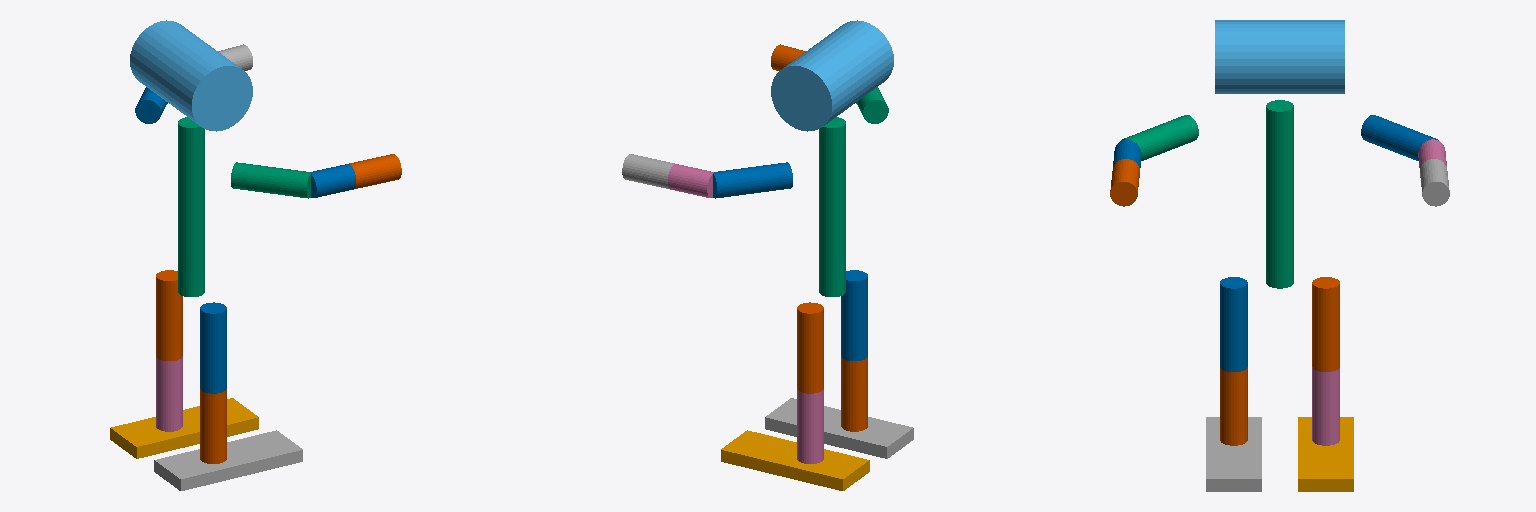
--- Facts derived from the render (not from the file) ---
The picture shows the robot from 3 angles, left to right: view 1: azimuth 30°, elevation 25°; view 2: azimuth 150°, elevation 25°; view 3: azimuth 270°, elevation 25°; orthographic projection.
Robot: NaoH25V32 — 77 links, 76 joints (26 revolute, 16 continuous, 34 fixed); root link base_link; default pose: joints at zero except 4 at the middle of their limits (LShoulderRoll = 0.829, LElbowRoll = -0.7854, RShoulderRoll = -0.829, RElbowRoll = 0.7854).
Links seen in each view (by area): view 1: Head, torso, r_ankle, l_ankle, RThigh, LThigh, RBicep, LTibia, RTibia, r_wrist, RForeArm, LBicep (+1 smaller); view 2: Head, torso, l_ankle, r_ankle, LThigh, RThigh, LBicep, RTibia, LTibia, l_wrist, LForeArm, RBicep (+1 smaller); view 3: Head, torso, l_ankle, r_ankle, LThigh, RThigh, LTibia, RTibia, LBicep, RBicep, l_wrist, r_wrist (+2 smaller).
Boxes of the visible links, <box> form: Head: <box>130,20,252,131</box>; torso: <box>178,117,204,296</box>; r_ankle: <box>154,430,302,490</box>; l_ankle: <box>110,398,258,458</box>; RThigh: <box>200,302,226,393</box>; LThigh: <box>156,270,182,360</box>; RBicep: <box>231,162,310,198</box>; LTibia: <box>156,356,182,431</box>; RTibia: <box>200,389,226,463</box>; r_wrist: <box>349,154,401,188</box>; RForeArm: <box>310,164,355,197</box>; LBicep: <box>135,87,167,123</box>; Head: <box>771,20,893,131</box>; torso: <box>819,117,845,296</box>; l_ankle: <box>721,430,869,490</box>; r_ankle: <box>765,398,913,458</box>; LThigh: <box>797,302,823,393</box>; RThigh: <box>841,270,867,360</box>; LBicep: <box>713,162,792,198</box>; RTibia: <box>841,356,867,431</box>; LTibia: <box>797,389,823,463</box>; l_wrist: <box>622,154,674,188</box>; LForeArm: <box>668,164,713,197</box>; RBicep: <box>856,87,888,123</box>; Head: <box>1215,20,1344,93</box>; torso: <box>1266,100,1293,288</box>; l_ankle: <box>1298,417,1353,491</box>; r_ankle: <box>1206,417,1261,491</box>; LThigh: <box>1312,277,1339,371</box>; RThigh: <box>1220,277,1247,371</box>; LTibia: <box>1312,367,1339,445</box>; RTibia: <box>1220,367,1247,445</box>; LBicep: <box>1361,115,1438,160</box>; RBicep: <box>1121,115,1198,160</box>; l_wrist: <box>1420,159,1449,206</box>; r_wrist: <box>1110,159,1139,206</box>.
Size in the robot's own frame: 0.2299 by 0.3682 by 0.5124 metres.
Geometry: primitives only (box / cylinder / sphere), no mesh files.

The robot description file, URDF, robot "NaoH25V32":
<?xml version="1.0" ?>
<!-- =================================================================================== -->
<!-- |    This document was autogenerated by xacro from nao_robot.xacro                | -->
<!-- |    EDITING THIS FILE BY HAND IS NOT RECOMMENDED                                 | -->
<!-- =================================================================================== -->
<!--******************************************************************
 ****** File automatically generated by generate_urdf.py script ******
 *********************************************************************-->
<robot name="NaoH25V32" xmlns:xacro="http://www.ros.org/wiki/xacro">
  <joint name="HeadYaw" type="revolute">
    <parent link="torso"/>
    <child link="Neck"/>
    <origin rpy="0 0 0" xyz="0 0 0.1265"/>
    <axis xyz="0 0 1.0"/>
    <limit effort="1.547" lower="-2.08567" upper="2.08567" velocity="8.26797"/>
  </joint>
  <link name="Neck">
    <inertial>
      <mass value="0.05959"/>
      <inertia ixx="2.27831e-05" ixy="0" ixz="-2.84825e-08" iyy="2.37937e-05" iyz="-1.0416e-07" izz="5.49457e-06"/>
      <origin rpy="0 0 0" xyz="-3e-05 0 -0.02573"/>
    </inertial>
  </link>
  <joint name="HeadPitch" type="revolute">
    <parent link="Neck"/>
    <child link="Head"/>
    <origin rpy="0 0 0" xyz="0 0 0"/>
    <axis xyz="0 1.0 0"/>
    <limit effort="1.532" lower="-0.671952" upper="0.514872" velocity="7.19407"/>
  </joint>
  <link name="Head">
    <inertial>
      <mass value="0.47672"/>
      <inertia ixx="0.0036122" ixy="1.42859e-05" ixz="0.000289597" iyy="0.00342929" iyz="-2.22459e-05" izz="0.00156014"/>
      <origin rpy="0 0 0" xyz="0.00383 0 0.05156"/>
    </inertial>
    <visual>
      <geometry>
        <cylinder length="0.14" radius="0.04"/>
      </geometry>
      <origin rpy="1.57079632679 0 0" xyz="0 0 0.058"/>
      <material name="LightGrey"/>
    </visual>
    <collision>
      <geometry>
        <cylinder length="0.14" radius="0.04"/>
      </geometry>
      <origin rpy="1.57079632679 0 0" xyz="0 0 0.058"/>
    </collision>
  </link>
  <joint name="gaze_joint" type="fixed">
    <parent link="Head"/>
    <child link="gaze"/>
    <origin rpy="0 0 0" xyz="0.05871 0 0.06364"/>
  </joint>
  <link name="gaze"/>
  <joint name="LHipYawPitch" type="revolute">
    <parent link="torso"/>
    <child link="LPelvis"/>
    <origin rpy="0 0 0" xyz="0 0.05 -0.085"/>
    <axis xyz="0 0.707106 -0.707106"/>
    <limit effort="3.348" lower="-1.14529" upper="0.740718" velocity="4.16174"/>
  </joint>
  <link name="LPelvis">
    <inertial>
      <mass value="0.07244"/>
      <inertia ixx="2.74339e-05" ixy="1.27703e-06" ixz="-1.83038e-06" iyy="4.99292e-05" iyz="4.57891e-06" izz="5.3498e-05"/>
      <origin rpy="0 0 0" xyz="-0.00717 -0.01187 0.02705"/>
    </inertial>
  </link>
  <joint name="LHipRoll" type="revolute">
    <parent link="LPelvis"/>
    <child link="LHip"/>
    <origin rpy="0 0 0" xyz="0 0 0"/>
    <axis xyz="1.0 0 0"/>
    <limit effort="3.348" lower="-0.379435" upper="0.79046" velocity="4.16174"/>
  </joint>
  <link name="LHip">
    <inertial>
      <mass value="0.1353"/>
      <inertia ixx="2.4849e-05" ixy="-5.97198e-07" ixz="5.28803e-06" iyy="6.16256e-05" iyz="-1.85886e-07" izz="0.000255291"/>
      <origin rpy="0 0 0" xyz="-0.01649 0.00029 -0.00475"/>
    </inertial>
  </link>
  <joint name="LHipPitch" type="revolute">
    <parent link="LHip"/>
    <child link="LThigh"/>
    <origin rpy="0 0 0" xyz="0 0 0"/>
    <axis xyz="0 1.0 0"/>
    <limit effort="3.023" lower="-1.53589" upper="0.48398" velocity="6.40239"/>
  </joint>
  <link name="LThigh">
    <inertial>
      <mass value="0.39798"/>
      <inertia ixx="0.000509482" ixy="1.48043e-06" ixz="5.4425e-05" iyy="0.000469814" iyz="-1.13419e-05" izz="0.000302638"/>
      <origin rpy="0 0 0" xyz="0.00131 0.00201 -0.05386"/>
    </inertial>
    <visual>
      <geometry>
        <cylinder length="0.1" radius="0.015"/>
      </geometry>
      <origin rpy="0 0 0" xyz="0 0 -0.05"/>
      <material name="LightGrey"/>
    </visual>
    <collision>
      <geometry>
        <cylinder length="0.1" radius="0.015"/>
      </geometry>
      <origin rpy="0 0 0" xyz="0 0 -0.05"/>
    </collision>
  </link>
  <joint name="LKneePitch" type="revolute">
    <parent link="LThigh"/>
    <child link="LTibia"/>
    <origin rpy="0 0 0" xyz="0 0 -0.1"/>
    <axis xyz="0 1.0 0"/>
    <limit effort="3.023" lower="-0.0923279" upper="2.11255" velocity="6.40239"/>
  </joint>
  <link name="LTibia">
    <inertial>
      <mass value="0.29714"/>
      <inertia ixx="0.000468213" ixy="3.24443e-06" ixz="-2.82799e-05" iyy="0.000411872" iyz="5.21684e-06" izz="0.000185588"/>
      <origin rpy="0 0 0" xyz="0.00471 0.0021 -0.04891"/>
    </inertial>
    <visual>
      <geometry>
        <cylinder length="0.1" radius="0.015"/>
      </geometry>
      <origin rpy="0 0 0" xyz="0 0 -0.05"/>
      <material name="LightGrey"/>
    </visual>
    <collision>
      <geometry>
        <cylinder length="0.1" radius="0.015"/>
      </geometry>
      <origin rpy="0 0 0" xyz="0 0 -0.05"/>
    </collision>
  </link>
  <joint name="LAnklePitch" type="revolute">
    <parent link="LTibia"/>
    <child link="LAnklePitch"/>
    <origin rpy="0 0 0" xyz="0 0 -0.1029"/>
    <axis xyz="0 1.0 0"/>
    <limit effort="3.023" lower="-1.18944" upper="0.922581" velocity="6.40239"/>
  </joint>
  <link name="LAnklePitch">
    <inertial>
      <mass value="0.13892"/>
      <inertia ixx="3.31602e-05" ixy="5.81459e-09" ixz="3.47177e-06" iyy="6.6181e-05" iyz="2.54907e-07" izz="5.32289e-05"/>
      <origin rpy="0 0 0" xyz="0.00142 0.00028 0.00638"/>
    </inertial>
  </link>
  <joint name="LAnkleRoll" type="revolute">
    <parent link="LAnklePitch"/>
    <child link="l_ankle"/>
    <origin rpy="0 0 0" xyz="0 0 0"/>
    <axis xyz="1.0 0 0"/>
    <limit effort="3.348" lower="-0.397761" upper="0.768992" velocity="4.16174"/>
  </joint>
  <link name="l_ankle">
    <inertial>
      <mass value="0.16304"/>
      <inertia ixx="9.80337e-05" ixy="7.46444e-06" ixz="7.11645e-06" iyy="0.000374354" iyz="1.43763e-06" izz="0.000423717"/>
      <origin rpy="0 0 0" xyz="0.02489 0.0033 -0.03208"/>
    </inertial>
    <visual>
      <geometry>
        <box size="0.16 0.06 0.015"/>
      </geometry>
      <origin rpy="0 0 0" xyz="0.02 0 0.0075"/>
      <material name="LightGrey"/>
    </visual>
    <collision>
      <geometry>
        <box size="0.16 0.06 0.015"/>
      </geometry>
      <origin rpy="0 0 0" xyz="0.02 0 0.0075"/>
    </collision>
  </link>
  <joint name="LLeg_effector_fixedjoint" type="fixed">
    <parent link="l_ankle"/>
    <child link="l_sole"/>
    <origin rpy="0 0 0" xyz="0 0 -0.04511"/>
    <axis xyz="0 0 0"/>
  </joint>
  <link name="l_sole"/>
  <joint name="RHipYawPitch" type="revolute">
    <parent link="torso"/>
    <child link="RPelvis"/>
    <origin rpy="0 0 0" xyz="0 -0.05 -0.085"/>
    <axis xyz="0 0.707106 0.707106"/>
    <limit effort="3.348" lower="-1.14529" upper="0.740718" velocity="4.16174"/>
    <mimic joint="LHipYawPitch" multiplier="1.0" offset="0"/>
  </joint>
  <link name="RPelvis">
    <inertial>
      <mass value="0.07244"/>
      <inertia ixx="2.74339e-05" ixy="-1.27703e-06" ixz="-1.83038e-06" iyy="4.99292e-05" iyz="-4.57891e-06" izz="5.3498e-05"/>
      <origin rpy="0 0 0" xyz="-0.00717 0.01187 0.02705"/>
    </inertial>
  </link>
  <joint name="RHipRoll" type="revolute">
    <parent link="RPelvis"/>
    <child link="RHip"/>
    <origin rpy="0 0 0" xyz="0 0 0"/>
    <axis xyz="1.0 0 0"/>
    <limit effort="3.348" lower="-0.79046" upper="0.379435" velocity="4.16174"/>
  </joint>
  <link name="RHip">
    <inertial>
      <mass value="0.1353"/>
      <inertia ixx="2.4849e-05" ixy="5.97198e-07" ixz="5.28803e-06" iyy="6.16256e-05" iyz="1.85886e-07" izz="0.000255291"/>
      <origin rpy="0 0 0" xyz="-0.01649 -0.00029 -0.00475"/>
    </inertial>
  </link>
  <joint name="RHipPitch" type="revolute">
    <parent link="RHip"/>
    <child link="RThigh"/>
    <origin rpy="0 0 0" xyz="0 0 0"/>
    <axis xyz="0 1.0 0"/>
    <limit effort="3.0226" lower="-1.53589" upper="0.48398" velocity="6.40239"/>
  </joint>
  <link name="RThigh">
    <inertial>
      <mass value="0.39798"/>
      <inertia ixx="0.000509482" ixy="-1.48043e-06" ixz="5.4425e-05" iyy="0.000469814" iyz="1.13419e-05" izz="0.000302638"/>
      <origin rpy="0 0 0" xyz="0.00131 -0.00201 -0.05386"/>
    </inertial>
    <visual>
      <geometry>
        <cylinder length="0.1" radius="0.015"/>
      </geometry>
      <origin rpy="0 0 0" xyz="0 0 -0.05"/>
      <material name="LightGrey"/>
    </visual>
    <collision>
      <geometry>
        <cylinder length="0.1" radius="0.015"/>
      </geometry>
      <origin rpy="0 0 0" xyz="0 0 -0.05"/>
    </collision>
  </link>
  <joint name="RKneePitch" type="revolute">
    <parent link="RThigh"/>
    <child link="RTibia"/>
    <origin rpy="0 0 0" xyz="0 0 -0.1"/>
    <axis xyz="0 1.0 0"/>
    <limit effort="3.0226" lower="-0.0923279" upper="2.11255" velocity="6.40239"/>
  </joint>
  <link name="RTibia">
    <inertial>
      <mass value="0.29714"/>
      <inertia ixx="0.000468213" ixy="-3.24443e-06" ixz="-2.82799e-05" iyy="0.000411872" iyz="-5.21684e-06" izz="0.000185588"/>
      <origin rpy="0 0 0" xyz="0.00471 -0.0021 -0.04891"/>
    </inertial>
    <visual>
      <geometry>
        <cylinder length="0.1" radius="0.015"/>
      </geometry>
      <origin rpy="0 0 0" xyz="0 0 -0.05"/>
      <material name="LightGrey"/>
    </visual>
    <collision>
      <geometry>
        <cylinder length="0.1" radius="0.015"/>
      </geometry>
      <origin rpy="0 0 0" xyz="0 0 -0.05"/>
    </collision>
  </link>
  <joint name="RAnklePitch" type="revolute">
    <parent link="RTibia"/>
    <child link="RAnklePitch"/>
    <origin rpy="0 0 0" xyz="0 0 -0.1029"/>
    <axis xyz="0 1.0 0"/>
    <limit effort="3.0226" lower="-1.1863" upper="0.932006" velocity="6.40239"/>
  </joint>
  <link name="RAnklePitch">
    <inertial>
      <mass value="0.13892"/>
      <inertia ixx="3.31602e-05" ixy="-5.81459e-09" ixz="3.47177e-06" iyy="6.6181e-05" iyz="-2.54907e-07" izz="5.32289e-05"/>
      <origin rpy="0 0 0" xyz="0.00142 -0.00028 0.00638"/>
    </inertial>
  </link>
  <joint name="RAnkleRoll" type="revolute">
    <parent link="RAnklePitch"/>
    <child link="r_ankle"/>
    <origin rpy="0 0 0" xyz="0 0 0"/>
    <axis xyz="1.0 0 0"/>
    <limit effort="3.348" lower="-0.768992" upper="0.397761" velocity="4.16174"/>
  </joint>
  <link name="r_ankle">
    <inertial>
      <mass value="0.16304"/>
      <inertia ixx="9.80337e-05" ixy="-7.46444e-06" ixz="-0.000116453" iyy="0.000374354" iyz="-1.43763e-06" izz="0.000423717"/>
      <origin rpy="0 0 0" xyz="0.02489 -0.0033 -0.03208"/>
    </inertial>
    <visual>
      <geometry>
        <box size="0.16 0.06 0.015"/>
      </geometry>
      <origin rpy="0 0 0" xyz="0.02 0 0.0075"/>
      <material name="LightGrey"/>
    </visual>
    <collision>
      <geometry>
        <box size="0.16 0.06 0.015"/>
      </geometry>
      <origin rpy="0 0 0" xyz="0.02 0 0.0075"/>
    </collision>
  </link>
  <joint name="RLeg_effector_fixedjoint" type="fixed">
    <parent link="r_ankle"/>
    <child link="r_sole"/>
    <origin rpy="0 0 0" xyz="0 0 -0.04511"/>
    <axis xyz="0 0 0"/>
  </joint>
  <link name="r_sole"/>
  <link name="base_link"/>
  <joint name="base_link_fixedjoint" type="fixed">
    <parent link="base_link"/>
    <child link="torso"/>
    <origin rpy="0 0 0" xyz="0 0 0"/>
    <axis xyz="0 0 0"/>
  </joint>
  <link name="torso">
    <inertial>
      <mass value="1.02628"/>
      <inertia ixx="0.00304582" ixy="1.42859e-05" ixz="-1.27716e-05" iyy="0.00284625" iyz="-2.22459e-05" izz="0.00154349"/>
      <origin rpy="0 0 0" xyz="-0.0048 0 0.04227"/>
    </inertial>
    <visual>
      <geometry>
        <cylinder length="0.2115" radius="0.015"/>
      </geometry>
      <origin rpy="0 0 0" xyz="0 0 0.02075"/>
      <material name="LightGrey"/>
    </visual>
    <collision>
      <geometry>
        <cylinder length="0.2115" radius="0.015"/>
      </geometry>
      <origin rpy="0 0 0" xyz="0 0 0.02075"/>
    </collision>
  </link>
  <joint name="LShoulderPitch" type="revolute">
    <parent link="torso"/>
    <child link="LShoulder"/>
    <origin rpy="0 0 0" xyz="0 0.098 0.1"/>
    <axis xyz="0 1.0 0"/>
    <limit effort="1.329" lower="-2.08567" upper="2.08567" velocity="8.26797"/>
  </joint>
  <link name="LShoulder">
    <inertial>
      <mass value="0.06984"/>
      <inertia ixx="2.71212e-05" ixy="1.092e-06" ixz="-6.48989e-09" iyy="1.38254e-05" iyz="-3.76769e-07" izz="2.90286e-05"/>
      <origin rpy="0 0 0" xyz="-0.00178 -0.02507 0.00019"/>
    </inertial>
  </link>
  <joint name="LShoulderRoll" type="revolute">
    <parent link="LShoulder"/>
    <child link="LBicep"/>
    <origin rpy="0 0 0" xyz="0 0 0"/>
    <axis xyz="0 0 1.0"/>
    <limit effort="1.7835" lower="0.00872665" upper="1.64934" velocity="7.19407"/>
  </joint>
  <link name="LBicep">
    <inertial>
      <mass value="0.12166"/>
      <inertia ixx="5.58921e-05" ixy="7.81779e-06" ixz="7.53876e-06" iyy="0.000148637" iyz="-1.97852e-06" izz="0.000130405"/>
      <origin rpy="0 0 0" xyz="0.02067 0.00388 0.00362"/>
    </inertial>
    <visual>
      <geometry>
        <cylinder length="0.09" radius="0.015"/>
      </geometry>
      <origin rpy="1.57079632679 0 1.57079632679" xyz="0.045 0 0"/>
      <material name="LightGrey"/>
    </visual>
    <collision>
      <geometry>
        <cylinder length="0.09" radius="0.015"/>
      </geometry>
      <origin rpy="1.57079632679 0 1.57079632679" xyz="0.045 0 0"/>
    </collision>
  </link>
  <joint name="LElbowYaw" type="revolute">
    <parent link="LBicep"/>
    <child link="LElbow"/>
    <origin rpy="0 0 0" xyz="0.09 0 0"/>
    <axis xyz="1.0 0 0"/>
    <limit effort="1.547" lower="-2.08567" upper="2.08567" velocity="8.26797"/>
  </joint>
  <link name="LElbow">
    <inertial>
      <mass value="0.05959"/>
      <inertia ixx="5.49223e-06" ixy="-7.08749e-09" ixz="3.7436e-07" iyy="2.2795e-05" iyz="5.70918e-09" izz="2.37796e-05"/>
      <origin rpy="0 0 0" xyz="-0.02573 -1e-05 -0.0002"/>
    </inertial>
  </link>
  <joint name="LElbowRoll" type="revolute">
    <parent link="LElbow"/>
    <child link="LForeArm"/>
    <origin rpy="0 0 0" xyz="0 0 0"/>
    <axis xyz="0 0 1.0"/>
    <limit effort="1.532" lower="-1.56207" upper="-0.00872665" velocity="7.19407"/>
  </joint>
  <link name="LForeArm">
    <inertial>
      <mass value="0.0377"/>
      <inertia ixx="1.2127e-05" ixy="9.08795e-07" ixz="3.9219e-07" iyy="1.61446e-05" iyz="7.966e-08" izz="1.52257e-05"/>
      <origin rpy="0 0 0" xyz="0.0194 0.00304 0.0025"/>
    </inertial>
    <visual>
      <geometry>
        <cylinder length="0.05065" radius="0.015"/>
      </geometry>
      <origin rpy="1.57079632679 0 1.57079632679" xyz="0.025325 0 0"/>
      <material name="LightGrey"/>
    </visual>
    <collision>
      <geometry>
        <cylinder length="0.05065" radius="0.015"/>
      </geometry>
      <origin rpy="1.57079632679 0 1.57079632679" xyz="0.025325 0 0"/>
    </collision>
  </link>
  <joint name="LWristYaw" type="revolute">
    <parent link="LForeArm"/>
    <child link="l_wrist"/>
    <origin rpy="0 0 0" xyz="0.05055 0 0"/>
    <axis xyz="1.0 0 0"/>
    <limit effort="0.3891" lower="-1.82387" upper="1.82387" velocity="5.03144"/>
  </joint>
  <link name="l_wrist">
    <inertial>
      <mass value="0.14314"/>
      <inertia ixx="5.48391e-05" ixy="4.21084e-06" ixz="-1.25566e-06" iyy="0.000120895" iyz="7.74367e-07" izz="0.00011473"/>
      <origin rpy="0 0 0" xyz="0.03241 0.00268 -0.00272"/>
    </inertial>
    <visual>
      <geometry>
        <cylinder length="0.058" radius="0.015"/>
      </geometry>
      <origin rpy="1.57079632679 0 1.57079632679" xyz="0.029 0 0"/>
      <material name="LightGrey"/>
    </visual>
    <collision>
      <geometry>
        <cylinder length="0.058" radius="0.015"/>
      </geometry>
      <origin rpy="1.57079632679 0 1.57079632679" xyz="0.029 0 0"/>
    </collision>
  </link>
  <joint name="LHand" type="revolute">
    <parent link="l_wrist"/>
    <child link="l_gripper"/>
    <origin rpy="0 0 0" xyz="0.058 0 -0.0159"/>
    <axis xyz="1.0 0 0"/>
    <limit effort="0.292" lower="0" upper="1.0" velocity="3.71"/>
  </joint>
  <link name="l_gripper">
    <inertial>
      <mass value="2e-06"/>
      <inertia ixx="1.1e-09" ixy="0" ixz="0" iyy="1.1e-09" iyz="0" izz="1.1e-09"/>
    </inertial>
  </link>
  <joint name="RShoulderPitch" type="revolute">
    <parent link="torso"/>
    <child link="RShoulder"/>
    <origin rpy="0 0 0" xyz="0 -0.098 0.1"/>
    <axis xyz="0 1.0 0"/>
    <limit effort="1.329" lower="-2.08567" upper="2.08567" velocity="8.26797"/>
  </joint>
  <link name="RShoulder">
    <inertial>
      <mass value="0.06984"/>
      <inertia ixx="2.71212e-05" ixy="-1.092e-06" ixz="-6.48989e-09" iyy="1.38254e-05" iyz="3.76769e-07" izz="2.90286e-05"/>
      <origin rpy="0 0 0" xyz="-0.00178 0.02507 0.00019"/>
    </inertial>
  </link>
  <joint name="RShoulderRoll" type="revolute">
    <parent link="RShoulder"/>
    <child link="RBicep"/>
    <origin rpy="0 0 0" xyz="0 0 0"/>
    <axis xyz="0 0 1.0"/>
    <limit effort="1.783" lower="-1.64934" upper="-0.00872665" velocity="7.19407"/>
  </joint>
  <link name="RBicep">
    <inertial>
      <mass value="0.12166"/>
      <inertia ixx="5.58921e-05" ixy="-7.81779e-06" ixz="-6.54177e-06" iyy="0.000148637" iyz="1.97852e-06" izz="0.000130405"/>
      <origin rpy="0 0 0" xyz="0.02067 -0.00388 0.00362"/>
    </inertial>
    <visual>
      <geometry>
        <cylinder length="0.09" radius="0.015"/>
      </geometry>
      <origin rpy="1.57079632679 0 1.57079632679" xyz="0.045 0 0"/>
      <material name="LightGrey"/>
    </visual>
    <collision>
      <geometry>
        <cylinder length="0.09" radius="0.015"/>
      </geometry>
      <origin rpy="1.57079632679 0 1.57079632679" xyz="0.045 0 0"/>
    </collision>
  </link>
  <joint name="RElbowYaw" type="revolute">
    <parent link="RBicep"/>
    <child link="RElbow"/>
    <origin rpy="0 0 0" xyz="0.09 0 0"/>
    <axis xyz="1.0 0 0"/>
    <limit effort="1.547" lower="-2.08567" upper="2.08567" velocity="8.26797"/>
  </joint>
  <link name="RElbow">
    <inertial>
      <mass value="0.05959"/>
      <inertia ixx="5.49223e-06" ixy="7.08749e-09" ixz="3.7436e-07" iyy="2.2795e-05" iyz="-5.70918e-09" izz="2.37796e-05"/>
      <origin rpy="0 0 0" xyz="-0.02573 1e-05 -0.0002"/>
    </inertial>
  </link>
  <joint name="RElbowRoll" type="revolute">
    <parent link="RElbow"/>
    <child link="RForeArm"/>
    <origin rpy="0 0 0" xyz="0 0 0"/>
    <axis xyz="0 0 1.0"/>
    <limit effort="1.532" lower="0.00872665" upper="1.56207" velocity="7.19407"/>
  </joint>
  <link name="RForeArm">
    <inertial>
      <mass value="0.0377"/>
      <inertia ixx="1.2127e-05" ixy="-9.08795e-07" ixz="3.9219e-07" iyy="1.61446e-05" iyz="-7.966e-08" izz="1.52257e-05"/>
      <origin rpy="0 0 0" xyz="0.0194 -0.00304 0.0025"/>
    </inertial>
    <visual>
      <geometry>
        <cylinder length="0.05065" radius="0.015"/>
      </geometry>
      <origin rpy="1.57079632679 0 1.57079632679" xyz="0.025325 0 0"/>
      <material name="LightGrey"/>
    </visual>
    <collision>
      <geometry>
        <cylinder length="0.05065" radius="0.015"/>
      </geometry>
      <origin rpy="1.57079632679 0 1.57079632679" xyz="0.025325 0 0"/>
    </collision>
  </link>
  <joint name="RWristYaw" type="revolute">
    <parent link="RForeArm"/>
    <child link="r_wrist"/>
    <origin rpy="0 0 0" xyz="0.05055 0 0"/>
    <axis xyz="1.0 0 0"/>
    <limit effort="0.3891" lower="-1.82387" upper="1.82387" velocity="5.03144"/>
  </joint>
  <link name="r_wrist">
    <inertial>
      <mass value="0.14314"/>
      <inertia ixx="5.48391e-05" ixy="-4.21084e-06" ixz="-1.25566e-06" iyy="0.000120895" iyz="-7.74367e-07" izz="0.00011473"/>
      <origin rpy="0 0 0" xyz="0.03241 -0.00268 -0.00272"/>
    </inertial>
    <visual>
      <geometry>
        <cylinder length="0.058" radius="0.015"/>
      </geometry>
      <origin rpy="1.57079632679 0 1.57079632679" xyz="0.029 0 0"/>
      <material name="LightGrey"/>
    </visual>
    <collision>
      <geometry>
        <cylinder length="0.058" radius="0.015"/>
      </geometry>
      <origin rpy="1.57079632679 0 1.57079632679" xyz="0.029 0 0"/>
    </collision>
  </link>
  <joint name="RHand" type="revolute">
    <parent link="r_wrist"/>
    <child link="r_gripper"/>
    <origin rpy="0 0 0" xyz="0.058 0 -0.0159"/>
    <axis xyz="1.0 0 0"/>
    <limit effort="0.292" lower="0" upper="1.0" velocity="3.71"/>
  </joint>
  <link name="r_gripper">
    <inertial>
      <mass value="2e-06"/>
      <inertia ixx="1.1e-09" ixy="0" ixz="0" iyy="1.1e-09" iyz="0" izz="1.1e-09"/>
    </inertial>
  </link>
  <link name="LFootBumperRight_frame"/>
  <joint name="LFoot/Bumper/Right_sensor_fixedjoint" type="fixed">
    <parent link="l_ankle"/>
    <child link="LFootBumperRight_frame"/>
    <origin rpy="0 0 0" xyz="0.0876 -0.014 -0.0353"/>
    <axis xyz="0 0 0"/>
  </joint>
  <link name="RFsrRL_frame">
    <collision>
      <geometry>
        <box size="0.01 0.01 0.005"/>
      </geometry>
      <origin rpy="0 0 0" xyz="0 0 0"/>
    </collision>
    <inertial>
      <mass value="2e-06"/>
      <inertia ixx="1.1e-09" ixy="0" ixz="0" iyy="1.1e-09" iyz="0" izz="1.1e-09"/>
    </inertial>
  </link>
  <joint name="RFoot/FSR/RearLeft_sensor_fixedjoint" type="fixed">
    <parent link="r_ankle"/>
    <child link="RFsrRL_frame"/>
    <origin rpy="0 0 0" xyz="-0.03025 0.0191 -0.04511"/>
    <axis xyz="0 0 0"/>
  </joint>
  <link name="CameraBottom_optical_frame"/>
  <joint name="CameraBottom_optical_frame_fixedjoint" type="fixed">
    <parent link="CameraBottom_frame"/>
    <child link="CameraBottom_optical_frame"/>
    <origin rpy="-1.57079632679 0 -1.57079632679" xyz="0 0 0"/>
  </joint>
  <link name="RFsrRR_frame">
    <collision>
      <geometry>
        <box size="0.01 0.01 0.005"/>
      </geometry>
      <origin rpy="0 0 0" xyz="0 0 0"/>
    </collision>
    <inertial>
      <mass value="2e-06"/>
      <inertia ixx="1.1e-09" ixy="0" ixz="0" iyy="1.1e-09" iyz="0" izz="1.1e-09"/>
    </inertial>
  </link>
  <joint name="RFoot/FSR/RearRight_sensor_fixedjoint" type="fixed">
    <parent link="r_ankle"/>
    <child link="RFsrRR_frame"/>
    <origin rpy="0 0 0" xyz="-0.02965 -0.0299 -0.04511"/>
    <axis xyz="0 0 0"/>
  </joint>
  <link name="LFsrFR_frame">
    <collision>
      <geometry>
        <box size="0.01 0.01 0.005"/>
      </geometry>
      <origin rpy="0 0 0" xyz="0 0 0"/>
    </collision>
    <inertial>
      <mass value="2e-06"/>
      <inertia ixx="1.1e-09" ixy="0" ixz="0" iyy="1.1e-09" iyz="0" izz="1.1e-09"/>
    </inertial>
  </link>
  <joint name="LFoot/FSR/FrontRight_sensor_fixedjoint" type="fixed">
    <parent link="l_ankle"/>
    <child link="LFsrFR_frame"/>
    <origin rpy="0 0 0" xyz="0.07025 -0.0231 -0.04511"/>
    <axis xyz="0 0 0"/>
  </joint>
  <link name="RFootBumperRight_frame"/>
  <joint name="RFoot/Bumper/Right_sensor_fixedjoint" type="fixed">
    <parent link="r_ankle"/>
    <child link="RFootBumperRight_frame"/>
    <origin rpy="0 0 0" xyz="0.0876 -0.019 -0.0353"/>
    <axis xyz="0 0 0"/>
  </joint>
  <link name="RFsrFR_frame">
    <collision>
      <geometry>
        <box size="0.01 0.01 0.005"/>
      </geometry>
      <origin rpy="0 0 0" xyz="0 0 0"/>
    </collision>
    <inertial>
      <mass value="2e-06"/>
      <inertia ixx="1.1e-09" ixy="0" ixz="0" iyy="1.1e-09" iyz="0" izz="1.1e-09"/>
    </inertial>
  </link>
  <joint name="RFoot/FSR/FrontRight_sensor_fixedjoint" type="fixed">
    <parent link="r_ankle"/>
    <child link="RFsrFR_frame"/>
    <origin rpy="0 0 0" xyz="0.07025 -0.0299 -0.04511"/>
    <axis xyz="0 0 0"/>
  </joint>
  <link name="MicroSurroundLeft_frame"/>
  <joint name="MicroLeft_sensor_fixedjoint" type="fixed">
    <parent link="Head"/>
    <child link="MicroSurroundLeft_frame"/>
    <origin rpy="0 0 0" xyz="-0.0195 0.0606 0.0331"/>
    <axis xyz="0 0 0"/>
  </joint>
  <link name="LFsrRR_frame">
    <collision>
      <geometry>
        <box size="0.01 0.01 0.005"/>
      </geometry>
      <origin rpy="0 0 0" xyz="0 0 0"/>
    </collision>
    <inertial>
      <mass value="2e-06"/>
      <inertia ixx="1.1e-09" ixy="0" ixz="0" iyy="1.1e-09" iyz="0" izz="1.1e-09"/>
    </inertial>
  </link>
  <joint name="LFoot/FSR/RearRight_sensor_fixedjoint" type="fixed">
    <parent link="l_ankle"/>
    <child link="LFsrRR_frame"/>
    <origin rpy="0 0 0" xyz="-0.02965 -0.0191 -0.04511"/>
    <axis xyz="0 0 0"/>
  </joint>
  <link name="MicroSurroundRight_frame"/>
  <joint name="MicroRight_sensor_fixedjoint" type="fixed">
    <parent link="Head"/>
    <child link="MicroSurroundRight_frame"/>
    <origin rpy="0 0 0" xyz="-0.0195 -0.0606 0.0331"/>
    <axis xyz="0 0 0"/>
  </joint>
  <link name="LSonar_frame"/>
  <joint name="Sonar/Left_sensor_fixedjoint" type="fixed">
    <parent link="torso"/>
    <child link="LSonar_frame"/>
    <origin rpy="-0.00478508 0.0436497 0.392441" xyz="0.00558253 0.0192068 0.0623853"/>
    <axis xyz="0 0 0"/>
  </joint>
  <link name="ImuTorsoAccelerometer_frame"/>
  <joint name="Accelerometer_sensor_fixedjoint" type="fixed">
    <parent link="torso"/>
    <child link="ImuTorsoAccelerometer_frame"/>
    <origin rpy="0 0 0" xyz="-0.008 0.00606 0.027"/>
    <axis xyz="0 0 0"/>
  </joint>
  <link name="HeadTouchFront_frame"/>
  <joint name="Head/Touch/Front_sensor_fixedjoint" type="fixed">
    <parent link="Head"/>
    <child link="HeadTouchFront_frame"/>
    <origin rpy="0 -1.1861 0" xyz="0.0312 0 0.1014"/>
    <axis xyz="0 0 0"/>
  </joint>
  <link name="RFootBumperLeft_frame"/>
  <joint name="RFoot/Bumper/Left_sensor_fixedjoint" type="fixed">
    <parent link="r_ankle"/>
    <child link="RFootBumperLeft_frame"/>
    <origin rpy="0 0 0" xyz="0.0876 0.014 -0.0353"/>
    <axis xyz="0 0 0"/>
  </joint>
  <link name="RSonar_frame"/>
  <joint name="Sonar/Right_sensor_fixedjoint" type="fixed">
    <parent link="torso"/>
    <child link="RSonar_frame"/>
    <origin rpy="0.00478508 0.0436497 -0.392441" xyz="0.00558253 -0.0192068 0.0623853"/>
    <axis xyz="0 0 0"/>
  </joint>
  <link name="RFsrFL_frame">
    <collision>
      <geometry>
        <box size="0.01 0.01 0.005"/>
      </geometry>
      <origin rpy="0 0 0" xyz="0 0 0"/>
    </collision>
    <inertial>
      <mass value="2e-06"/>
      <inertia ixx="1.1e-09" ixy="0" ixz="0" iyy="1.1e-09" iyz="0" izz="1.1e-09"/>
    </inertial>
  </link>
  <joint name="RFoot/FSR/FrontLeft_sensor_fixedjoint" type="fixed">
    <parent link="r_ankle"/>
    <child link="RFsrFL_frame"/>
    <origin rpy="0 0 0" xyz="0.07025 0.0231 -0.04511"/>
    <axis xyz="0 0 0"/>
  </joint>
  <link name="LFsrFL_frame">
    <collision>
      <geometry>
        <box size="0.01 0.01 0.005"/>
      </geometry>
      <origin rpy="0 0 0" xyz="0 0 0"/>
    </collision>
    <inertial>
      <mass value="2e-06"/>
      <inertia ixx="1.1e-09" ixy="0" ixz="0" iyy="1.1e-09" iyz="0" izz="1.1e-09"/>
    </inertial>
  </link>
  <joint name="LFoot/FSR/FrontLeft_sensor_fixedjoint" type="fixed">
    <parent link="l_ankle"/>
    <child link="LFsrFL_frame"/>
    <origin rpy="0 0 0" xyz="0.07025 0.0299 -0.04511"/>
    <axis xyz="0 0 0"/>
  </joint>
  <link name="LFsrRL_frame">
    <collision>
      <geometry>
        <box size="0.01 0.01 0.005"/>
      </geometry>
      <origin rpy="0 0 0" xyz="0 0 0"/>
    </collision>
    <inertial>
      <mass value="2e-06"/>
      <inertia ixx="1.1e-09" ixy="0" ixz="0" iyy="1.1e-09" iyz="0" izz="1.1e-09"/>
    </inertial>
  </link>
  <joint name="LFoot/FSR/RearLeft_sensor_fixedjoint" type="fixed">
    <parent link="l_ankle"/>
    <child link="LFsrRL_frame"/>
    <origin rpy="0 0 0" xyz="-0.03025 0.0299 -0.04511"/>
    <axis xyz="0 0 0"/>
  </joint>
  <link name="CameraBottom_frame"/>
  <joint name="CameraBottom_sensor_fixedjoint" type="fixed">
    <parent link="Head"/>
    <child link="CameraBottom_frame"/>
    <origin rpy="0 0.6981 0" xyz="0.0488 0 0.02381"/>
    <axis xyz="0 0 0"/>
  </joint>
  <link name="CameraTop_frame"/>
  <joint name="CameraTop_sensor_fixedjoint" type="fixed">
    <parent link="Head"/>
    <child link="CameraTop_frame"/>
    <origin rpy="0 0 0" xyz="0.0539 0 0.0679"/>
    <axis xyz="0 0 0"/>
  </joint>
  <link name="CameraTop_optical_frame"/>
  <joint name="CameraTop_optical_frame_fixedjoint" type="fixed">
    <parent link="CameraTop_frame"/>
    <child link="CameraTop_optical_frame"/>
    <origin rpy="-1.57079632679 0 -1.57079632679" xyz="0 0 0"/>
  </joint>
  <link name="LInfraRed_frame"/>
  <joint name="InfraredL_sensor_fixedjoint" type="fixed">
    <parent link="Head"/>
    <child link="LInfraRed_frame"/>
    <origin rpy="0 0 0" xyz="0.0441 0.0257 0.0466"/>
    <axis xyz="0 0 0"/>
  </joint>
  <link name="ImuTorsoGyrometer_frame"/>
  <joint name="Gyrometer_sensor_fixedjoint" type="fixed">
    <parent link="torso"/>
    <child link="ImuTorsoGyrometer_frame"/>
    <origin rpy="0 0 0" xyz="-0.008 0.006 0.029"/>
    <axis xyz="0 0 0"/>
  </joint>
  <link name="MicroFrontCenter_frame"/>
  <joint name="MicroFront_sensor_fixedjoint" type="fixed">
    <parent link="Head"/>
    <child link="MicroFrontCenter_frame"/>
    <origin rpy="0 0 0" xyz="0.041 0 0.091"/>
    <axis xyz="0 0 0"/>
  </joint>
  <link name="HeadTouchRear_frame"/>
  <joint name="Head/Touch/Rear_sensor_fixedjoint" type="fixed">
    <parent link="Head"/>
    <child link="HeadTouchRear_frame"/>
    <origin rpy="3.14159 -1.33319 -3.14159" xyz="-0.0257 0 0.1045"/>
    <axis xyz="0 0 0"/>
  </joint>
  <link name="HeadTouchMiddle_frame"/>
  <joint name="Head/Touch/Middle_sensor_fixedjoint" type="fixed">
    <parent link="Head"/>
    <child link="HeadTouchMiddle_frame"/>
    <origin rpy="3.14159 -1.57079 -3.14159" xyz="0.001 0 0.1099"/>
    <axis xyz="0 0 0"/>
  </joint>
  <link name="RInfraRed_frame"/>
  <joint name="InfraredR_sensor_fixedjoint" type="fixed">
    <parent link="Head"/>
    <child link="RInfraRed_frame"/>
    <origin rpy="0 0 0" xyz="0.0441 -0.0257 0.0466"/>
    <axis xyz="0 0 0"/>
  </joint>
  <link name="ChestButton_frame"/>
  <joint name="ChestBoard/Button_sensor_fixedjoint" type="fixed">
    <parent link="torso"/>
    <child link="ChestButton_frame"/>
    <origin rpy="0 0 0" xyz="0.049871 0.001588 0.055163"/>
    <axis xyz="0 0 0"/>
  </joint>
  <link name="LFootBumperLeft_frame"/>
  <joint name="LFoot/Bumper/Left_sensor_fixedjoint" type="fixed">
    <parent link="l_ankle"/>
    <child link="LFootBumperLeft_frame"/>
    <origin rpy="0 0 0" xyz="0.0876 0.019 -0.0353"/>
    <axis xyz="0 0 0"/>
  </joint>
  <link name="MicroRearCenter_frame"/>
  <joint name="MicroRear_sensor_fixedjoint" type="fixed">
    <parent link="Head"/>
    <child link="MicroRearCenter_frame"/>
    <origin rpy="0 0 0" xyz="-0.0577 0 0.0693"/>
    <axis xyz="0 0 0"/>
  </joint>
  <link name="RFinger23_link">
    <inertial>
      <mass value="2e-06"/>
      <inertia ixx="1.1e-09" ixy="0" ixz="0" iyy="1.1e-09" iyz="0" izz="1.1e-09"/>
    </inertial>
  </link>
  <joint name="RFinger23" type="continuous">
    <parent link="RFinger22_link"/>
    <child link="RFinger23_link"/>
    <origin rpy="0 0 -0.999899" xyz="0.01436 0 0"/>
    <axis xyz="0 0 1.0"/>
    <mimic joint="RHand" multiplier="0.999899" offset="0"/>
  </joint>
  <link name="RFinger13_link">
    <inertial>
      <mass value="2e-06"/>
      <inertia ixx="1.1e-09" ixy="0" ixz="0" iyy="1.1e-09" iyz="0" izz="1.1e-09"/>
    </inertial>
  </link>
  <joint name="RFinger13" type="continuous">
    <parent link="RFinger12_link"/>
    <child link="RFinger13_link"/>
    <origin rpy="0 0 -0.999899" xyz="0.01436 0 0"/>
    <axis xyz="0 0 1.0"/>
    <mimic joint="RHand" multiplier="0.999899" offset="0"/>
  </joint>
  <link name="RFinger12_link">
    <inertial>
      <mass value="2e-06"/>
      <inertia ixx="1.1e-09" ixy="0" ixz="0" iyy="1.1e-09" iyz="0" izz="1.1e-09"/>
    </inertial>
  </link>
  <joint name="RFinger12" type="continuous">
    <parent link="RFinger11_link"/>
    <child link="RFinger12_link"/>
    <origin rpy="0 0 -0.999899" xyz="0.01436 0 0"/>
    <axis xyz="0 0 1.0"/>
    <mimic joint="RHand" multiplier="0.999899" offset="0"/>
  </joint>
  <link name="LFinger21_link">
    <inertial>
      <mass value="2e-06"/>
      <inertia ixx="1.1e-09" ixy="0" ixz="0" iyy="1.1e-09" iyz="0" izz="1.1e-09"/>
    </inertial>
  </link>
  <joint name="LFinger21" type="continuous">
    <parent link="l_wrist"/>
    <child link="LFinger21_link"/>
    <origin rpy="1.25539 0.976662 -0.264067" xyz="0.06907 -0.01157 -0.00304"/>
    <axis xyz="0 0 1.0"/>
    <mimic joint="LHand" multiplier="0.999899" offset="0"/>
  </joint>
  <link name="LFinger13_link">
    <inertial>
      <mass value="2e-06"/>
      <inertia ixx="1.1e-09" ixy="0" ixz="0" iyy="1.1e-09" iyz="0" izz="1.1e-09"/>
    </inertial>
  </link>
  <joint name="LFinger13" type="continuous">
    <parent link="LFinger12_link"/>
    <child link="LFinger13_link"/>
    <origin rpy="0 0 -0.999899" xyz="0.01436 0 0"/>
    <axis xyz="0 0 1.0"/>
    <mimic joint="LHand" multiplier="0.999899" offset="0"/>
  </joint>
  <link name="LFinger11_link">
    <inertial>
      <mass value="2e-06"/>
      <inertia ixx="1.1e-09" ixy="0" ixz="0" iyy="1.1e-09" iyz="0" izz="1.1e-09"/>
    </inertial>
  </link>
  <joint name="LFinger11" type="continuous">
    <parent link="l_wrist"/>
    <child link="LFinger11_link"/>
    <origin rpy="1.8862 0.976662 0.264067" xyz="0.06907 0.01157 -0.00304"/>
    <axis xyz="0 0 1.0"/>
    <mimic joint="LHand" multiplier="0.999899" offset="0"/>
  </joint>
  <link name="RFinger22_link">
    <inertial>
      <mass value="2e-06"/>
      <inertia ixx="1.1e-09" ixy="0" ixz="0" iyy="1.1e-09" iyz="0" izz="1.1e-09"/>
    </inertial>
  </link>
  <joint name="RFinger22" type="continuous">
    <parent link="RFinger21_link"/>
    <child link="RFinger22_link"/>
    <origin rpy="0 0 -0.999899" xyz="0.01436 0 0"/>
    <axis xyz="0 0 1.0"/>
    <mimic joint="RHand" multiplier="0.999899" offset="0"/>
  </joint>
  <link name="LFinger22_link">
    <inertial>
      <mass value="2e-06"/>
      <inertia ixx="1.1e-09" ixy="0" ixz="0" iyy="1.1e-09" iyz="0" izz="1.1e-09"/>
    </inertial>
  </link>
  <joint name="LFinger22" type="continuous">
    <parent link="LFinger21_link"/>
    <child link="LFinger22_link"/>
    <origin rpy="0 0 -0.999899" xyz="0.01436 0 0"/>
    <axis xyz="0 0 1.0"/>
    <mimic joint="LHand" multiplier="0.999899" offset="0"/>
  </joint>
  <link name="RFinger21_link">
    <inertial>
      <mass value="2e-06"/>
      <inertia ixx="1.1e-09" ixy="0" ixz="0" iyy="1.1e-09" iyz="0" izz="1.1e-09"/>
    </inertial>
  </link>
  <joint name="RFinger21" type="continuous">
    <parent link="r_wrist"/>
    <child link="RFinger21_link"/>
    <origin rpy="1.25539 0.976662 -0.264067" xyz="0.06907 -0.01157 -0.00304"/>
    <axis xyz="0 0 1.0"/>
    <mimic joint="RHand" multiplier="0.999899" offset="0"/>
  </joint>
  <link name="LFinger12_link">
    <inertial>
      <mass value="2e-06"/>
      <inertia ixx="1.1e-09" ixy="0" ixz="0" iyy="1.1e-09" iyz="0" izz="1.1e-09"/>
    </inertial>
  </link>
  <joint name="LFinger12" type="continuous">
    <parent link="LFinger11_link"/>
    <child link="LFinger12_link"/>
    <origin rpy="0 0 -0.999899" xyz="0.01436 0 0"/>
    <axis xyz="0 0 1.0"/>
    <mimic joint="LHand" multiplier="0.999899" offset="0"/>
  </joint>
  <link name="RFinger11_link">
    <inertial>
      <mass value="2e-06"/>
      <inertia ixx="1.1e-09" ixy="0" ixz="0" iyy="1.1e-09" iyz="0" izz="1.1e-09"/>
    </inertial>
  </link>
  <joint name="RFinger11" type="continuous">
    <parent link="r_wrist"/>
    <child link="RFinger11_link"/>
    <origin rpy="1.8862 0.976662 0.264067" xyz="0.06907 0.01157 -0.00304"/>
    <axis xyz="0 0 1.0"/>
    <mimic joint="RHand" multiplier="0.999899" offset="0"/>
  </joint>
  <link name="LFinger23_link">
    <inertial>
      <mass value="2e-06"/>
      <inertia ixx="1.1e-09" ixy="0" ixz="0" iyy="1.1e-09" iyz="0" izz="1.1e-09"/>
    </inertial>
  </link>
  <joint name="LFinger23" type="continuous">
    <parent link="LFinger22_link"/>
    <child link="LFinger23_link"/>
    <origin rpy="0 0 -0.999899" xyz="0.01436 0 0"/>
    <axis xyz="0 0 1.0"/>
    <mimic joint="LHand" multiplier="0.999899" offset="0"/>
  </joint>
  <link name="LThumb1_link">
    <inertial>
      <mass value="2e-06"/>
      <inertia ixx="1.1e-09" ixy="0" ixz="0" iyy="1.1e-09" iyz="0" izz="1.1e-09"/>
    </inertial>
  </link>
  <joint name="LThumb1" type="continuous">
    <parent link="l_wrist"/>
    <child link="LThumb1_link"/>
    <origin rpy="-1.5708 0.0472984 -3.26826e-08" xyz="0.04895 0 -0.02638"/>
    <axis xyz="0 0 1.0"/>
    <mimic joint="LHand" multiplier="0.999899" offset="0"/>
  </joint>
  <link name="RThumb1_link">
    <inertial>
      <mass value="2e-06"/>
      <inertia ixx="1.1e-09" ixy="0" ixz="0" iyy="1.1e-09" iyz="0" izz="1.1e-09"/>
    </inertial>
  </link>
  <joint name="RThumb1" type="continuous">
    <parent link="r_wrist"/>
    <child link="RThumb1_link"/>
    <origin rpy="-1.5708 0.0472984 -3.26826e-08" xyz="0.04895 0 -0.02638"/>
    <axis xyz="0 0 1.0"/>
    <mimic joint="RHand" multiplier="0.999899" offset="0"/>
  </joint>
  <link name="RThumb2_link">
    <inertial>
      <mass value="2e-06"/>
      <inertia ixx="1.1e-09" ixy="0" ixz="0" iyy="1.1e-09" iyz="0" izz="1.1e-09"/>
    </inertial>
  </link>
  <joint name="RThumb2" type="continuous">
    <parent link="RThumb1_link"/>
    <child link="RThumb2_link"/>
    <origin rpy="0 0 -0.999899" xyz="0.01436 0 0"/>
    <axis xyz="0 0 1.0"/>
    <mimic joint="RHand" multiplier="0.999899" offset="0"/>
  </joint>
  <link name="LThumb2_link">
    <inertial>
      <mass value="2e-06"/>
      <inertia ixx="1.1e-09" ixy="0" ixz="0" iyy="1.1e-09" iyz="0" izz="1.1e-09"/>
    </inertial>
  </link>
  <joint name="LThumb2" type="continuous">
    <parent link="LThumb1_link"/>
    <child link="LThumb2_link"/>
    <origin rpy="0 0 -0.999899" xyz="0.01436 0 0"/>
    <axis xyz="0 0 1.0"/>
    <mimic joint="LHand" multiplier="0.999899" offset="0"/>
  </joint>
  <!-- GAZEBO ROS CONTROL AND IMU PLUGIN -->
  <gazebo>
    <plugin filename="libgazebo_ros_control.so" name="gazebo_ros_control">
      <robotNamespace>/nao_dcm</robotNamespace>
      <robotSimType>gazebo_ros_control/DefaultRobotHWSim</robotSimType>
    </plugin>
    <!--        <plugin filename="libgazebo_ros_imu.so" name="gazebo_ros_imu_controller">
            <robotNamespace>/nao_dcm</robotNamespace>
            <topicName>imu_data</topicName>
            <bodyName>imu</bodyName>
            <frameId>ImuAccelerometer_frame</frameId>
            <gaussianNoise>2.89e-08</gaussianNoise>
            <accelGaussianNoise>2.89e-08 2.89e-08 2.89e-08</accelGaussianNoise>
            <rateGaussianNoise>2.89e-08 2.89e-08 2.89e-08</rateGaussianNoise>
            <headingGaussianNoise>2.89e-08 2.89e-08 2.89e-08</headingGaussianNoise>
            <xyzOffsets>0 0 0</xyzOffsets>
            <rpyOffsets>0 0 0</rpyOffsets>
            <updateRate>30.0</updateRate>
            <alwaysOn>true</alwaysOn>
        </plugin>
-->
    <!--        <plugin name="gazebo_ros_imu_controller" filename="${imu_plugin}">
            <robotNamespace>/nao_dcm</robotNamespace>
            <topicName>imu_data</topicName>
            <bodyName>imu</bodyName>
            <frameId>imu</frameId>
            <gaussianNoise>2.89e-08</gaussianNoise>
            <accelGaussianNoise>2.89e-08 2.89e-08 2.89e-08</accelGaussianNoise>
            <rateGaussianNoise>2.89e-08 2.89e-08 2.89e-08</rateGaussianNoise>
            <headingGaussianNoise>2.89e-08 2.89e-08 2.89e-08</headingGaussianNoise>
            <xyzOffsets>0 0 0</xyzOffsets>
            <rpyOffsets>0 0 0</rpyOffsets>
            <updateRate>30.0</updateRate>
            <alwaysOn>true</alwaysOn>
        </plugin>
-->
    <!-- Mimic joints through plugin develop by costashatz based on implementation by Goncalo Cabrita -->
    <plugin filename="libroboticsgroup_gazebo_mimic_joint_plugin.so" name="mimic_hipyawpitch">
      <joint>LHipYawPitch</joint>
      <mimicJoint>RHipYawPitch</mimicJoint>
      <multiplier>1.0</multiplier>
      <offset>0.0</offset>
    </plugin>
    <plugin filename="libroboticsgroup_gazebo_mimic_joint_plugin.so" name="mimic_LFinger11">
      <joint>LHand</joint>
      <mimicJoint>LFinger11</mimicJoint>
      <multiplier>-0.785398163398</multiplier>
      <offset>0.785398163398</offset>
    </plugin>
    <plugin filename="libroboticsgroup_gazebo_mimic_joint_plugin.so" name="mimic_LFinger12">
      <joint>LHand</joint>
      <mimicJoint>LFinger12</mimicJoint>
      <multiplier>-0.785398163398</multiplier>
      <offset>0.785398163398</offset>
    </plugin>
    <plugin filename="libroboticsgroup_gazebo_mimic_joint_plugin.so" name="mimic_LFinger13">
      <joint>LHand</joint>
      <mimicJoint>LFinger13</mimicJoint>
      <multiplier>-0.785398163398</multiplier>
      <offset>0.785398163398</offset>
    </plugin>
    <plugin filename="libroboticsgroup_gazebo_mimic_joint_plugin.so" name="mimic_LFinger21">
      <joint>LHand</joint>
      <mimicJoint>LFinger21</mimicJoint>
      <multiplier>-0.785398163398</multiplier>
      <offset>0.785398163398</offset>
    </plugin>
    <plugin filename="libroboticsgroup_gazebo_mimic_joint_plugin.so" name="mimic_LFinger22">
      <joint>LHand</joint>
      <mimicJoint>LFinger22</mimicJoint>
      <multiplier>-0.785398163398</multiplier>
      <offset>0.785398163398</offset>
    </plugin>
    <plugin filename="libroboticsgroup_gazebo_mimic_joint_plugin.so" name="mimic_LFinger23">
      <joint>LHand</joint>
      <mimicJoint>LFinger23</mimicJoint>
      <multiplier>-0.785398163398</multiplier>
      <offset>0.785398163398</offset>
    </plugin>
    <plugin filename="libroboticsgroup_gazebo_mimic_joint_plugin.so" name="mimic_RFinger11">
      <joint>RHand</joint>
      <mimicJoint>RFinger11</mimicJoint>
      <multiplier>-0.785398163398</multiplier>
      <offset>0.785398163398</offset>
    </plugin>
    <plugin filename="libroboticsgroup_gazebo_mimic_joint_plugin.so" name="mimic_RFinger12">
      <joint>RHand</joint>
      <mimicJoint>RFinger12</mimicJoint>
      <multiplier>-0.785398163398</multiplier>
      <offset>0.785398163398</offset>
    </plugin>
    <plugin filename="libroboticsgroup_gazebo_mimic_joint_plugin.so" name="mimic_RFinger13">
      <joint>RHand</joint>
      <mimicJoint>RFinger13</mimicJoint>
      <multiplier>-0.785398163398</multiplier>
      <offset>0.785398163398</offset>
    </plugin>
    <plugin filename="libroboticsgroup_gazebo_mimic_joint_plugin.so" name="mimic_RFinger21">
      <joint>RHand</joint>
      <mimicJoint>RFinger21</mimicJoint>
      <multiplier>-0.785398163398</multiplier>
      <offset>0.785398163398</offset>
    </plugin>
    <plugin filename="libroboticsgroup_gazebo_mimic_joint_plugin.so" name="mimic_RFinger22">
      <joint>RHand</joint>
      <mimicJoint>RFinger22</mimicJoint>
      <multiplier>-0.785398163398</multiplier>
      <offset>0.785398163398</offset>
    </plugin>
    <plugin filename="libroboticsgroup_gazebo_mimic_joint_plugin.so" name="mimic_RFinger23">
      <joint>RHand</joint>
      <mimicJoint>RFinger23</mimicJoint>
      <multiplier>-0.785398163398</multiplier>
      <offset>0.785398163398</offset>
    </plugin>
    <plugin filename="libroboticsgroup_gazebo_mimic_joint_plugin.so" name="LThumb1">
      <joint>LHand</joint>
      <mimicJoint>LThumb1</mimicJoint>
      <multiplier>-0.785398163398</multiplier>
      <offset>0.785398163398</offset>
    </plugin>
    <plugin filename="libroboticsgroup_gazebo_mimic_joint_plugin.so" name="LThumb2">
      <joint>LHand</joint>
      <mimicJoint>LThumb2</mimicJoint>
      <multiplier>-0.785398163398</multiplier>
      <offset>0.785398163398</offset>
    </plugin>
    <plugin filename="libroboticsgroup_gazebo_mimic_joint_plugin.so" name="RThumb1">
      <joint>RHand</joint>
      <mimicJoint>RThumb1</mimicJoint>
      <multiplier>-0.785398163398</multiplier>
      <offset>0.785398163398</offset>
    </plugin>
    <plugin filename="libroboticsgroup_gazebo_mimic_joint_plugin.so" name="RThumb2">
      <joint>RHand</joint>
      <mimicJoint>RThumb2</mimicJoint>
      <multiplier>-0.785398163398</multiplier>
      <offset>0.785398163398</offset>
    </plugin>
    <plugin filename="libroboticsgroup_gazebo_disable_link_plugin.so" name="LFinger11_link">
      <link>LFinger11_link</link>
    </plugin>
    <plugin filename="libroboticsgroup_gazebo_disable_link_plugin.so" name="LFinger12_link">
      <link>LFinger12_link</link>
    </plugin>
    <plugin filename="libroboticsgroup_gazebo_disable_link_plugin.so" name="LFinger13_link">
      <link>LFinger13_link</link>
    </plugin>
    <plugin filename="libroboticsgroup_gazebo_disable_link_plugin.so" name="LFinger21_link">
      <link>LFinger21_link</link>
    </plugin>
    <plugin filename="libroboticsgroup_gazebo_disable_link_plugin.so" name="LFinger22_link">
      <link>LFinger22_link</link>
    </plugin>
    <plugin filename="libroboticsgroup_gazebo_disable_link_plugin.so" name="LFinger23_link">
      <link>LFinger23_link</link>
    </plugin>
    <plugin filename="libroboticsgroup_gazebo_disable_link_plugin.so" name="LThumb1_link">
      <link>LThumb1_link</link>
    </plugin>
    <plugin filename="libroboticsgroup_gazebo_disable_link_plugin.so" name="LThumb2_link">
      <link>LThumb2_link</link>
    </plugin>
    <plugin filename="libroboticsgroup_gazebo_disable_link_plugin.so" name="l_gripper">
      <link>l_gripper</link>
    </plugin>
    <plugin filename="libroboticsgroup_gazebo_disable_link_plugin.so" name="RFinger11_link">
      <link>RFinger11_link</link>
    </plugin>
    <plugin filename="libroboticsgroup_gazebo_disable_link_plugin.so" name="RFinger12_link">
      <link>RFinger12_link</link>
    </plugin>
    <plugin filename="libroboticsgroup_gazebo_disable_link_plugin.so" name="RFinger13_link">
      <link>RFinger13_link</link>
    </plugin>
    <plugin filename="libroboticsgroup_gazebo_disable_link_plugin.so" name="RFinger21_link">
      <link>RFinger21_link</link>
    </plugin>
    <plugin filename="libroboticsgroup_gazebo_disable_link_plugin.so" name="RFinger22_link">
      <link>RFinger22_link</link>
    </plugin>
    <plugin filename="libroboticsgroup_gazebo_disable_link_plugin.so" name="RFinger23_link">
      <link>RFinger23_link</link>
    </plugin>
    <plugin filename="libroboticsgroup_gazebo_disable_link_plugin.so" name="RThumb1_link">
      <link>RThumb1_link</link>
    </plugin>
    <plugin filename="libroboticsgroup_gazebo_disable_link_plugin.so" name="RThumb2_link">
      <link>RThumb2_link</link>
    </plugin>
    <plugin filename="libroboticsgroup_gazebo_disable_link_plugin.so" name="r_gripper">
      <link>r_gripper</link>
    </plugin>
  </gazebo>
  <!-- END OF GAZEBO ROS CONTROL PLUGIN -->
  <!-- GAZEBO MATERIALS -->
  <gazebo reference="torso">
    <mu1>0.5</mu1>
    <mu2>0.5</mu2>
    <selfCollide>false</selfCollide>
    <turnGravityOff>false</turnGravityOff>
  </gazebo>
  <gazebo reference="Neck">
    <mu1>0.5</mu1>
    <mu2>0.5</mu2>
    <selfCollide>false</selfCollide>
    <turnGravityOff>false</turnGravityOff>
  </gazebo>
  <gazebo reference="Head">
    <mu1>0.5</mu1>
    <mu2>0.5</mu2>
    <selfCollide>false</selfCollide>
    <turnGravityOff>false</turnGravityOff>
  </gazebo>
  <gazebo reference="gaze">
    <mu1>0.5</mu1>
    <mu2>0.5</mu2>
    <selfCollide>false</selfCollide>
    <turnGravityOff>false</turnGravityOff>
  </gazebo>
  <!--    <gazebo reference="LShoulderDummy">
        <mu1>0.5</mu1>
        <mu2>0.5</mu2>
        <selfCollide>false</selfCollide>
        <turnGravityOff>false</turnGravityOff>
    </gazebo> 
    <gazebo reference="RShoulderDummy">
        <mu1>0.5</mu1>
        <mu2>0.5</mu2>
        <selfCollide>false</selfCollide>
        <turnGravityOff>false</turnGravityOff>
    </gazebo> -->
  <!-- ARMS -->
  <gazebo reference="LShoulder">
    <mu1>0.5</mu1>
    <mu2>0.5</mu2>
    <selfCollide>false</selfCollide>
    <turnGravityOff>false</turnGravityOff>
  </gazebo>
  <gazebo reference="LBicep">
    <mu1>0.5</mu1>
    <mu2>0.5</mu2>
    <selfCollide>false</selfCollide>
    <turnGravityOff>false</turnGravityOff>
  </gazebo>
  <gazebo reference="LElbow">
    <mu1>0.5</mu1>
    <mu2>0.5</mu2>
    <selfCollide>false</selfCollide>
    <turnGravityOff>false</turnGravityOff>
  </gazebo>
  <gazebo reference="LForeArm">
    <mu1>0.5</mu1>
    <mu2>0.5</mu2>
    <selfCollide>false</selfCollide>
    <turnGravityOff>false</turnGravityOff>
  </gazebo>
  <gazebo reference="l_wrist">
    <mu1>0.5</mu1>
    <mu2>0.5</mu2>
    <selfCollide>false</selfCollide>
    <turnGravityOff>false</turnGravityOff>
  </gazebo>
  <gazebo reference="l_gripper">
    <mu1>0.5</mu1>
    <mu2>0.5</mu2>
    <selfCollide>false</selfCollide>
    <turnGravityOff>true</turnGravityOff>
  </gazebo>
  <gazebo reference="RShoulder">
    <mu1>0.5</mu1>
    <mu2>0.5</mu2>
    <selfCollide>false</selfCollide>
    <turnGravityOff>false</turnGravityOff>
  </gazebo>
  <gazebo reference="RBicep">
    <mu1>0.5</mu1>
    <mu2>0.5</mu2>
    <selfCollide>false</selfCollide>
    <turnGravityOff>false</turnGravityOff>
  </gazebo>
  <gazebo reference="RElbow">
    <mu1>0.5</mu1>
    <mu2>0.5</mu2>
    <selfCollide>false</selfCollide>
    <turnGravityOff>false</turnGravityOff>
  </gazebo>
  <gazebo reference="RForeArm">
    <mu1>0.5</mu1>
    <mu2>0.5</mu2>
    <selfCollide>false</selfCollide>
    <turnGravityOff>false</turnGravityOff>
  </gazebo>
  <gazebo reference="r_wrist">
    <mu1>0.5</mu1>
    <mu2>0.5</mu2>
    <selfCollide>false</selfCollide>
    <turnGravityOff>false</turnGravityOff>
  </gazebo>
  <gazebo reference="r_gripper">
    <mu1>0.5</mu1>
    <mu2>0.5</mu2>
    <selfCollide>false</selfCollide>
    <turnGravityOff>true</turnGravityOff>
  </gazebo>
  <!--    <gazebo reference="LElbowDummy">
        <mu1>0.5</mu1>
        <mu2>0.5</mu2>
        <selfCollide>false</selfCollide>
        <turnGravityOff>false</turnGravityOff>
    </gazebo>
-->
  <gazebo reference="LFinger11_link">
    <mu1>0.5</mu1>
    <mu2>0.5</mu2>
    <selfCollide>false</selfCollide>
    <turnGravityOff>true</turnGravityOff>
  </gazebo>
  <gazebo reference="LFinger12_link">
    <mu1>0.5</mu1>
    <mu2>0.5</mu2>
    <selfCollide>false</selfCollide>
    <turnGravityOff>true</turnGravityOff>
  </gazebo>
  <gazebo reference="LFinger13_link">
    <mu1>0.5</mu1>
    <mu2>0.5</mu2>
    <selfCollide>false</selfCollide>
    <turnGravityOff>true</turnGravityOff>
  </gazebo>
  <gazebo reference="LFinger21_link">
    <mu1>0.5</mu1>
    <mu2>0.5</mu2>
    <selfCollide>false</selfCollide>
    <turnGravityOff>true</turnGravityOff>
  </gazebo>
  <gazebo reference="LFinger22_link">
    <mu1>0.5</mu1>
    <mu2>0.5</mu2>
    <selfCollide>false</selfCollide>
    <turnGravityOff>true</turnGravityOff>
  </gazebo>
  <gazebo reference="LFinger23_link">
    <mu1>0.5</mu1>
    <mu2>0.5</mu2>
    <selfCollide>false</selfCollide>
    <turnGravityOff>true</turnGravityOff>
  </gazebo>
  <gazebo reference="LThumb1_link">
    <mu1>0.5</mu1>
    <mu2>0.5</mu2>
    <selfCollide>false</selfCollide>
    <turnGravityOff>true</turnGravityOff>
  </gazebo>
  <gazebo reference="LThumb2_link">
    <mu1>0.5</mu1>
    <mu2>0.5</mu2>
    <selfCollide>false</selfCollide>
    <turnGravityOff>true</turnGravityOff>
  </gazebo>
  <gazebo reference="LPelvis">
    <mu1>0.5</mu1>
    <mu2>0.5</mu2>
    <selfCollide>false</selfCollide>
    <turnGravityOff>false</turnGravityOff>
  </gazebo>
  <gazebo reference="LHip">
    <mu1>0.5</mu1>
    <mu2>0.5</mu2>
    <selfCollide>false</selfCollide>
    <turnGravityOff>false</turnGravityOff>
  </gazebo>
  <gazebo reference="LThigh">
    <mu1>0.5</mu1>
    <mu2>0.5</mu2>
    <selfCollide>false</selfCollide>
    <turnGravityOff>false</turnGravityOff>
  </gazebo>
  <gazebo reference="LTibia">
    <mu1>0.5</mu1>
    <mu2>0.5</mu2>
    <selfCollide>false</selfCollide>
    <turnGravityOff>false</turnGravityOff>
  </gazebo>
  <gazebo reference="LAnklePitch">
    <mu1>0.5</mu1>
    <mu2>0.5</mu2>
    <selfCollide>false</selfCollide>
    <turnGravityOff>false</turnGravityOff>
  </gazebo>
  <gazebo reference="l_ankle">
    <mu1>0.5</mu1>
    <mu2>0.5</mu2>
    <selfCollide>false</selfCollide>
    <turnGravityOff>false</turnGravityOff>
    <fdir1>1 0 0</fdir1>
    <maxVel>0.1</maxVel>
    <minDepth>0.003</minDepth>
  </gazebo>
  <gazebo reference="RPelvis">
    <mu1>0.5</mu1>
    <mu2>0.5</mu2>
    <selfCollide>false</selfCollide>
    <turnGravityOff>false</turnGravityOff>
  </gazebo>
  <gazebo reference="RHip">
    <mu1>0.5</mu1>
    <mu2>0.5</mu2>
    <selfCollide>false</selfCollide>
    <turnGravityOff>false</turnGravityOff>
  </gazebo>
  <gazebo reference="RThigh">
    <mu1>0.5</mu1>
    <mu2>0.5</mu2>
    <selfCollide>false</selfCollide>
    <turnGravityOff>false</turnGravityOff>
  </gazebo>
  <gazebo reference="RTibia">
    <mu1>0.5</mu1>
    <mu2>0.5</mu2>
    <selfCollide>false</selfCollide>
    <turnGravityOff>false</turnGravityOff>
  </gazebo>
  <gazebo reference="RAnklePitch">
    <mu1>0.5</mu1>
    <mu2>0.5</mu2>
    <selfCollide>false</selfCollide>
    <turnGravityOff>false</turnGravityOff>
  </gazebo>
  <gazebo reference="r_ankle">
    <mu1>0.5</mu1>
    <mu2>0.5</mu2>
    <selfCollide>false</selfCollide>
    <turnGravityOff>false</turnGravityOff>
    <fdir1>1 0 0</fdir1>
    <maxVel>0.1</maxVel>
    <minDepth>0.003</minDepth>
  </gazebo>
  <gazebo reference="RFinger11_link">
    <mu1>0.5</mu1>
    <mu2>0.5</mu2>
    <selfCollide>false</selfCollide>
    <turnGravityOff>true</turnGravityOff>
  </gazebo>
  <gazebo reference="RFinger12_link">
    <mu1>0.5</mu1>
    <mu2>0.5</mu2>
    <selfCollide>false</selfCollide>
    <turnGravityOff>true</turnGravityOff>
  </gazebo>
  <gazebo reference="RFinger13_link">
    <mu1>0.5</mu1>
    <mu2>0.5</mu2>
    <selfCollide>false</selfCollide>
    <turnGravityOff>true</turnGravityOff>
  </gazebo>
  <gazebo reference="RFinger21_link">
    <mu1>0.5</mu1>
    <mu2>0.5</mu2>
    <selfCollide>false</selfCollide>
    <turnGravityOff>true</turnGravityOff>
  </gazebo>
  <gazebo reference="RFinger22_link">
    <mu1>0.5</mu1>
    <mu2>0.5</mu2>
    <selfCollide>false</selfCollide>
    <turnGravityOff>true</turnGravityOff>
  </gazebo>
  <gazebo reference="RFinger23_link">
    <mu1>0.5</mu1>
    <mu2>0.5</mu2>
    <selfCollide>false</selfCollide>
    <turnGravityOff>true</turnGravityOff>
  </gazebo>
  <gazebo reference="RThumb1_link">
    <mu1>0.5</mu1>
    <mu2>0.5</mu2>
    <selfCollide>false</selfCollide>
    <turnGravityOff>true</turnGravityOff>
  </gazebo>
  <gazebo reference="RThumb2_link">
    <mu1>0.5</mu1>
    <mu2>0.5</mu2>
    <selfCollide>false</selfCollide>
    <turnGravityOff>true</turnGravityOff>
  </gazebo>
  <!--

        RGB CAMERAS: Working
-->
  <gazebo reference="CameraTop_frame">
    <sensor name="CameraTop" type="camera">
      <update_rate>5.0</update_rate>
      <camera name="camera_top">
        <horizontal_fov>1.06290551</horizontal_fov>
        <image>
          <width>640</width>
          <height>480</height>
          <format>R8G8B8</format>
        </image>
        <clip>
          <near>0.3</near>
          <far>500</far>
        </clip>
        <noise>
          <type>gaussian</type>
          <mean>0.0</mean>
          <stddev>0.007</stddev>
        </noise>
      </camera>
      <plugin filename="libgazebo_ros_camera.so" name="camera_controller">
        <robotNamespace>nao_robot</robotNamespace>
        <alwaysOn>true</alwaysOn>
        <updateRate>5.0</updateRate>
        <cameraName>camera/top</cameraName>
        <imageTopicName>image_raw</imageTopicName>
        <cameraInfoTopicName>camera_info</cameraInfoTopicName>
        <frameName>CameraTop_optical_frame</frameName>
        <hackBaseline>0.07</hackBaseline>
        <distortionK1>-0.0545211</distortionK1>
        <distortionK2>0.06919734</distortionK2>
        <distortionK3>-0.0241095</distortionK3>
        <distortionT1>-0.0112245</distortionT1>
        <distortionT2>0.0</distortionT2>
      </plugin>
    </sensor>
  </gazebo>
  <gazebo reference="CameraBottom_frame">
    <sensor name="CameraBottom" type="camera">
      <update_rate>5.0</update_rate>
      <camera name="camera_bottom">
        <horizontal_fov>1.06290551</horizontal_fov>
        <image>
          <width>640</width>
          <height>480</height>
          <format>R8G8B8</format>
        </image>
        <clip>
          <near>0.05</near>
          <far>500</far>
        </clip>
        <noise>
          <type>gaussian</type>
          <mean>0.0</mean>
          <stddev>0.007</stddev>
        </noise>
      </camera>
      <plugin filename="libgazebo_ros_camera.so" name="camera_controller">
        <robotNamespace>/nao_robot</robotNamespace>
        <alwaysOn>true</alwaysOn>
        <updateRate>5.0</updateRate>
        <cameraName>camera_bottom</cameraName>
        <imageTopicName>image_raw</imageTopicName>
        <cameraInfoTopicName>camera_info</cameraInfoTopicName>
        <frameName>CameraBottom_optical_frame</frameName>
        <hackBaseline>0.07</hackBaseline>
        <distortionK1>-0.0648764</distortionK1>
        <distortionK2>0.06125202</distortionK2>
        <distortionK3>0.00382815</distortionK3>
        <distortionT1>-0.00551104</distortionT1>
        <distortionT2>0.0</distortionT2>
      </plugin>
    </sensor>
  </gazebo>
  <!--

        CameraDepth : not displayed at the right spot

<gazebo reference="CameraDepth3_frame">
    <sensor type="depth" name="openni_camera_camera2">       
        <always_on>1</always_on>
        <visualize>true</visualize>             
        <camera>
            <horizontal_fov>1.01229</horizontal_fov>  
            <image>
                <width>320</width>
                <height>240</height>
                <format>R8G8B8</format> 
            </image>
            <depth_camera>

            </depth_camera>
            <clip>
                <near>0.1</near>
                <far>100</far>
            </clip>
        </camera>
        <plugin name="depth_cam_controller2" filename="libgazebo_ros_openni_kinect.so"> 
            <baseline>0.2</baseline>
            <alwaysOn>true</alwaysOn>
            <updateRate>0.1</updateRate>
            <cameraName>xtion2</cameraName>
            <imageTopicName>/xtion2/ir/image_raw</imageTopicName>
            <cameraInfoTopicName>/xtion2/ir/camera_info</cameraInfoTopicName>
            <depthImageTopicName>/xtion2/depth/image_raw</depthImageTopicName>
            <depthImageInfoTopicName>/xtion2/depth/camera_info</depthImageInfoTopicName>
            <pointCloudTopicName>/xtion2/depth/points</pointCloudTopicName>
            <frameName>CameraDepth2_frame</frameName>
            <pointCloudCutoff>0.5</pointCloudCutoff>
            <distortionK1>0.00000001</distortionK1>
            <distortionK2>0.00000001</distortionK2>
            <distortionK3>0.00000001</distortionK3>
            <distortionT1>0.00000001</distortionT1>
            <distortionT2>0.00000001</distortionT2>
            <CxPrime>0</CxPrime>
            <Cx>0</Cx>
            <Cy>0</Cy>
            <focalLength>0</focalLength>
            <hackBaseline>0</hackBaseline>
        </plugin>
    </sensor>
</gazebo>
-->
  <!-- 
    BUMPERS + FSR
libgazebo_ros_bumper.so bugged right now, waiting for new release


<gazebo reference="LFootBumper_frame">
  <sensor type="contact" name="LFootBumper">
    <update_rate>10</update_rate>
    <contact>
      <collision>LFootBumper_frame_collision</collision>
    </contact>
    <plugin filename="libgazebo_ros_bumper.so" name="gazebo_nao_ros_bumper">
      <alwaysOn>true</alwaysOn>
      <bumperTopicName>LFootBumper</bumperTopicName>
      <frameName>LFootBumper_frame</frameName>
    </plugin>
  </sensor>
</gazebo>
-->
  <gazebo reference="RFsrFL_frame">
    <mu1>0.5</mu1>
    <mu2>0.5</mu2>
    <selfCollide>false</selfCollide>
    <turnGravityOff>false</turnGravityOff>
    <fdir1>1 0 0</fdir1>
    <maxVel>0.1</maxVel>
    <minDepth>0.003</minDepth>
    <sensor name="RFsrFL" type="contact">
      <always_on>1</always_on>
      <update_rate>20</update_rate>
      <visualize>false</visualize>
      <contact>
        <collision>RFsrFL_frame_collision</collision>
      </contact>
      <plugin filename="libgazebo_ros_bumper.so" name="gazebo_nao_RFsrFL">
        <robotNamespace>nao_robot</robotNamespace>
        <alwaysOn>true</alwaysOn>
        <bumperTopicName>FSR/RFoot/FrontLeft</bumperTopicName>
        <frameName>RFsrFL_frame</frameName>
      </plugin>
    </sensor>
  </gazebo>
  <gazebo reference="RFsrFR_frame">
    <mu1>0.5</mu1>
    <mu2>0.5</mu2>
    <selfCollide>false</selfCollide>
    <turnGravityOff>false</turnGravityOff>
    <fdir1>1 0 0</fdir1>
    <maxVel>0.1</maxVel>
    <minDepth>0.003</minDepth>
    <sensor name="RFsrFR" type="contact">
      <always_on>1</always_on>
      <update_rate>20</update_rate>
      <visualize>false</visualize>
      <contact>
        <collision>RFsrFR_frame_collision</collision>
      </contact>
      <plugin filename="libgazebo_ros_bumper.so" name="gazebo_nao_RFsrFR">
        <robotNamespace>nao_robot</robotNamespace>
        <alwaysOn>true</alwaysOn>
        <bumperTopicName>FSR/RFoot/FrontRight</bumperTopicName>
        <frameName>RFsrFR_frame</frameName>
      </plugin>
    </sensor>
  </gazebo>
  <gazebo reference="RFsrRL_frame">
    <mu1>0.5</mu1>
    <mu2>0.5</mu2>
    <selfCollide>false</selfCollide>
    <turnGravityOff>false</turnGravityOff>
    <fdir1>1 0 0</fdir1>
    <maxVel>0.1</maxVel>
    <minDepth>0.003</minDepth>
    <sensor name="RFsrRL" type="contact">
      <always_on>1</always_on>
      <update_rate>20</update_rate>
      <visualize>false</visualize>
      <contact>
        <collision>RFsrRL_frame_collision</collision>
      </contact>
      <plugin filename="libgazebo_ros_bumper.so" name="gazebo_nao_RFsrRL">
        <robotNamespace>nao_robot</robotNamespace>
        <alwaysOn>true</alwaysOn>
        <bumperTopicName>FSR/RFoot/RearLeft</bumperTopicName>
        <frameName>RFsrRL_frame</frameName>
      </plugin>
    </sensor>
  </gazebo>
  <gazebo reference="RFsrRR_frame">
    <mu1>0.5</mu1>
    <mu2>0.5</mu2>
    <selfCollide>false</selfCollide>
    <turnGravityOff>false</turnGravityOff>
    <fdir1>1 0 0</fdir1>
    <maxVel>0.1</maxVel>
    <minDepth>0.003</minDepth>
    <sensor name="RFsrRR" type="contact">
      <always_on>1</always_on>
      <update_rate>20</update_rate>
      <visualize>false</visualize>
      <contact>
        <collision>RFsrRR_frame_collision</collision>
      </contact>
      <plugin filename="libgazebo_ros_bumper.so" name="gazebo_nao_RFsrRR">
        <robotNamespace>nao_robot</robotNamespace>
        <alwaysOn>true</alwaysOn>
        <bumperTopicName>FSR/RFoot/RearRight</bumperTopicName>
        <frameName>RFsrRR_frame</frameName>
      </plugin>
    </sensor>
  </gazebo>
  <gazebo reference="LFsrFL_frame">
    <mu1>0.5</mu1>
    <mu2>0.5</mu2>
    <selfCollide>false</selfCollide>
    <turnGravityOff>false</turnGravityOff>
    <fdir1>1 0 0</fdir1>
    <maxVel>0.1</maxVel>
    <minDepth>0.003</minDepth>
    <sensor name="LFsrFL" type="contact">
      <always_on>1</always_on>
      <update_rate>20</update_rate>
      <visualize>false</visualize>
      <contact>
        <collision>LFsrFL_frame_collision</collision>
      </contact>
      <plugin filename="libgazebo_ros_bumper.so" name="gazebo_nao_LFsrFL">
        <robotNamespace>nao_robot</robotNamespace>
        <alwaysOn>true</alwaysOn>
        <bumperTopicName>FSR/LFoot/FrontLeft</bumperTopicName>
        <frameName>RFsrFL_frame</frameName>
      </plugin>
    </sensor>
  </gazebo>
  <gazebo reference="LFsrFR_frame">
    <mu1>0.5</mu1>
    <mu2>0.5</mu2>
    <selfCollide>false</selfCollide>
    <turnGravityOff>false</turnGravityOff>
    <fdir1>1 0 0</fdir1>
    <maxVel>0.1</maxVel>
    <minDepth>0.003</minDepth>
    <sensor name="LFsrFR" type="contact">
      <always_on>1</always_on>
      <update_rate>20</update_rate>
      <visualize>false</visualize>
      <contact>
        <collision>LFsrFR_frame_collision</collision>
      </contact>
      <plugin filename="libgazebo_ros_bumper.so" name="gazebo_nao_ros_bumper">
        <robotNamespace>nao_robot</robotNamespace>
        <alwaysOn>true</alwaysOn>
        <bumperTopicName>FSR/LFoot/FrontRight</bumperTopicName>
        <frameName>LFsrFR_frame</frameName>
      </plugin>
    </sensor>
  </gazebo>
  <gazebo reference="LFsrRL_frame">
    <mu1>0.5</mu1>
    <mu2>0.5</mu2>
    <selfCollide>false</selfCollide>
    <turnGravityOff>false</turnGravityOff>
    <fdir1>1 0 0</fdir1>
    <maxVel>0.1</maxVel>
    <minDepth>0.003</minDepth>
    <sensor name="LFsrRL" type="contact">
      <always_on>1</always_on>
      <update_rate>20</update_rate>
      <visualize>false</visualize>
      <contact>
        <collision>LFsrRL_frame_collision</collision>
      </contact>
      <plugin filename="libgazebo_ros_bumper.so" name="gazebo_nao_ros_bumper">
        <robotNamespace>nao_robot</robotNamespace>
        <alwaysOn>true</alwaysOn>
        <bumperTopicName>FSR/LFoot/RearLeft</bumperTopicName>
        <frameName>LFsrRL_frame</frameName>
      </plugin>
    </sensor>
  </gazebo>
  <gazebo reference="LFsrRR_frame">
    <mu1>0.5</mu1>
    <mu2>0.5</mu2>
    <selfCollide>false</selfCollide>
    <turnGravityOff>false</turnGravityOff>
    <fdir1>1 0 0</fdir1>
    <maxVel>0.1</maxVel>
    <minDepth>0.003</minDepth>
    <sensor name="LFsrRR" type="contact">
      <always_on>1</always_on>
      <update_rate>20</update_rate>
      <visualize>false</visualize>
      <contact>
        <collision>LFsrRR_frame_collision</collision>
      </contact>
      <plugin filename="libgazebo_ros_bumper.so" name="gazebo_nao_ros_bumper">
        <robotNamespace>nao_robot</robotNamespace>
        <alwaysOn>true</alwaysOn>
        <bumperTopicName>FSR/LFoot/RearRight</bumperTopicName>
        <frameName>LFsrRR_frame</frameName>
      </plugin>
    </sensor>
  </gazebo>
  <!--
    Sonars
-->
  <gazebo reference="LSonar_frame">
    <sensor name="LSonar" type="ray">
      <pose>0 0 0 0 0 0</pose>
      <update_rate>20</update_rate>
      <visualize>false</visualize>
      <ray>
        <scan>
          <horizontal>
            <samples>5</samples>
            <resolution>1</resolution>
            <min_angle>-0.2617993877991494</min_angle>
            <max_angle>0.2617993877991494</max_angle>
            <!--
          <min_angle>-0.10</min_angle>
          <max_angle>0.10</max_angle> 
-->
          </horizontal>
          <vertical>
            <samples>5</samples>
            <resolution>1</resolution>
            <min_angle>-0.13</min_angle>
            <max_angle>0.13</max_angle>
            <!--
          <min_angle>-0.2617993877991494</min_angle>
          <max_angle>0.2617993877991494</max_angle> 
-->
          </vertical>
        </scan>
        <range>
          <min>0.025</min>
          <max>2.55</max>
          <resolution>1</resolution>
        </range>
      </ray>
      <plugin filename="libgazebo_ros_range.so" name="gazebo_ros_range">
        <robotNamespace>nao_robot</robotNamespace>
        <gaussianNoise>0.05</gaussianNoise>
        <alwaysOn>true</alwaysOn>
        <updateRate>20</updateRate>
        <topicName>sonar_left</topicName>
        <frameName>LSonar_frame</frameName>
        <minRange>0.025</minRange>
        <maxRange>2.55</maxRange>
        <fov>0.5235987755982988</fov>
        <!--      <fov>0.1</fov> -->
        <radiation>ultrasound</radiation>
      </plugin>
    </sensor>
  </gazebo>
  <gazebo reference="RSonar_frame">
    <sensor name="RSonar" type="ray">
      <pose>0 0 0 0 0 0</pose>
      <update_rate>20</update_rate>
      <visualize>false</visualize>
      <ray>
        <scan>
          <horizontal>
            <samples>5</samples>
            <resolution>1</resolution>
            <min_angle>-0.2617993877991494</min_angle>
            <max_angle>0.2617993877991494</max_angle>
          </horizontal>
          <vertical>
            <samples>5</samples>
            <resolution>1</resolution>
            <min_angle>-0.13</min_angle>
            <max_angle>0.13</max_angle>
          </vertical>
        </scan>
        <range>
          <min>0.025</min>
          <max>2.55</max>
          <resolution>1</resolution>
        </range>
      </ray>
      <plugin filename="libgazebo_ros_range.so" name="gazebo_ros_range">
        <robotNamespace>nao_robot</robotNamespace>
        <gaussianNoise>0.05</gaussianNoise>
        <alwaysOn>true</alwaysOn>
        <updateRate>20</updateRate>
        <topicName>sonar_right</topicName>
        <frameName>RSonar_frame</frameName>
        <minRange>0.025</minRange>
        <maxRange>2.55</maxRange>
        <fov>0.5235987755982988</fov>
        <radiation>ultrasound</radiation>
      </plugin>
    </sensor>
  </gazebo>
  <!-- HEAD -->
  <transmission name="HeadYaw_Transmission">
    <type>transmission_interface/SimpleTransmission</type>
    <joint name="HeadYaw">
      <hardwareInterface>PositionJointInterface</hardwareInterface>
    </joint>
    <actuator name="HeadYaw_Motor">
      <!-- Dummy Values -->
      <hardwareInterface>PositionJointInterface</hardwareInterface>
      <mechanicalReduction>150.27</mechanicalReduction>
    </actuator>
  </transmission>
  <transmission name="HeadPitch_Transmission">
    <type>transmission_interface/SimpleTransmission</type>
    <joint name="HeadPitch">
      <hardwareInterface>PositionJointInterface</hardwareInterface>
    </joint>
    <actuator name="HeadPitch_Motor">
      <!-- Dummy Values -->
      <hardwareInterface>PositionJointInterface</hardwareInterface>
      <mechanicalReduction>173.22</mechanicalReduction>
    </actuator>
  </transmission>
  <transmission name="LShoulderPitch_Transmission">
    <type>transmission_interface/SimpleTransmission</type>
    <joint name="LShoulderPitch">
      <hardwareInterface>PositionJointInterface</hardwareInterface>
    </joint>
    <actuator name="LShoulderPitch_Motor">
      <hardwareInterface>PositionJointInterface</hardwareInterface>
      <mechanicalReduction>150.27</mechanicalReduction>
    </actuator>
  </transmission>
  <transmission name="LShoulderRoll_Transmission">
    <type>transmission_interface/SimpleTransmission</type>
    <joint name="LShoulderRoll">
      <hardwareInterface>PositionJointInterface</hardwareInterface>
    </joint>
    <actuator name="LShoulderRoll_Motor">
      <hardwareInterface>PositionJointInterface</hardwareInterface>
      <mechanicalReduction>173.22</mechanicalReduction>
    </actuator>
  </transmission>
  <transmission name="LElbowYaw_Transmission">
    <type>transmission_interface/SimpleTransmission</type>
    <joint name="LElbowYaw">
      <hardwareInterface>PositionJointInterface</hardwareInterface>
    </joint>
    <actuator name="LElbowYaw_Motor">
      <hardwareInterface>PositionJointInterface</hardwareInterface>
      <mechanicalReduction>150.27</mechanicalReduction>
    </actuator>
  </transmission>
  <transmission name="LElbowRoll_Transmission">
    <type>transmission_interface/SimpleTransmission</type>
    <joint name="LElbowRoll">
      <hardwareInterface>PositionJointInterface</hardwareInterface>
    </joint>
    <actuator name="LElbowRoll_Motor">
      <hardwareInterface>PositionJointInterface</hardwareInterface>
      <mechanicalReduction>173.22</mechanicalReduction>
    </actuator>
  </transmission>
  <transmission name="LWristYaw_Transmission">
    <type>transmission_interface/SimpleTransmission</type>
    <joint name="LWristYaw">
      <hardwareInterface>PositionJointInterface</hardwareInterface>
    </joint>
    <actuator name="LWristYaw_Motor">
      <hardwareInterface>PositionJointInterface</hardwareInterface>
      <mechanicalReduction>50.61</mechanicalReduction>
    </actuator>
  </transmission>
  <transmission name="LHand_Transmission">
    <type>transmission_interface/SimpleTransmission</type>
    <joint name="LHand">
      <hardwareInterface>PositionJointInterface</hardwareInterface>
    </joint>
    <actuator name="LHand_Motor">
      <hardwareInterface>PositionJointInterface</hardwareInterface>
      <mechanicalReduction>36.24</mechanicalReduction>
    </actuator>
  </transmission>
  <transmission name="RShoulderPitch_Transmission">
    <type>transmission_interface/SimpleTransmission</type>
    <joint name="RShoulderPitch">
      <hardwareInterface>PositionJointInterface</hardwareInterface>
    </joint>
    <actuator name="RShoulderPitch_Motor">
      <hardwareInterface>PositionJointInterface</hardwareInterface>
      <mechanicalReduction>150.27</mechanicalReduction>
    </actuator>
  </transmission>
  <transmission name="RShoulderRoll_Transmission">
    <type>transmission_interface/SimpleTransmission</type>
    <joint name="RShoulderRoll">
      <hardwareInterface>PositionJointInterface</hardwareInterface>
    </joint>
    <actuator name="RShoulderRoll_Motor">
      <hardwareInterface>PositionJointInterface</hardwareInterface>
      <mechanicalReduction>173.22</mechanicalReduction>
    </actuator>
  </transmission>
  <transmission name="RElbowYaw_Transmission">
    <type>transmission_interface/SimpleTransmission</type>
    <joint name="RElbowYaw">
      <hardwareInterface>PositionJointInterface</hardwareInterface>
    </joint>
    <actuator name="RElbowYaw_Motor">
      <hardwareInterface>PositionJointInterface</hardwareInterface>
      <mechanicalReduction>150.27</mechanicalReduction>
    </actuator>
  </transmission>
  <transmission name="RElbowRoll_Transmission">
    <type>transmission_interface/SimpleTransmission</type>
    <joint name="RElbowRoll">
      <hardwareInterface>PositionJointInterface</hardwareInterface>
    </joint>
    <actuator name="RElbowRoll_Motor">
      <hardwareInterface>PositionJointInterface</hardwareInterface>
      <mechanicalReduction>173.22</mechanicalReduction>
    </actuator>
  </transmission>
  <transmission name="RWristYaw_Transmission">
    <type>transmission_interface/SimpleTransmission</type>
    <joint name="RWristYaw">
      <hardwareInterface>PositionJointInterface</hardwareInterface>
    </joint>
    <actuator name="RWristYaw_Motor">
      <hardwareInterface>PositionJointInterface</hardwareInterface>
      <mechanicalReduction>50.61</mechanicalReduction>
    </actuator>
  </transmission>
  <transmission name="RHand_Transmission">
    <type>transmission_interface/SimpleTransmission</type>
    <joint name="RHand">
      <hardwareInterface>PositionJointInterface</hardwareInterface>
    </joint>
    <actuator name="RHand_Motor">
      <hardwareInterface>PositionJointInterface</hardwareInterface>
      <mechanicalReduction>36.24</mechanicalReduction>
    </actuator>
  </transmission>
  <transmission name="LHipYawPitch_Transmission">
    <type>transmission_interface/SimpleTransmission</type>
    <joint name="LHipYawPitch">
      <hardwareInterface>PositionJointInterface</hardwareInterface>
    </joint>
    <actuator name="LHipYawPitch_Motor">
      <!-- Dummy Values -->
      <hardwareInterface>PositionJointInterface</hardwareInterface>
      <mechanicalReduction>201.3</mechanicalReduction>
    </actuator>
  </transmission>
  <transmission name="LHipRoll_Transmission">
    <type>transmission_interface/SimpleTransmission</type>
    <joint name="LHipRoll">
      <hardwareInterface>PositionJointInterface</hardwareInterface>
    </joint>
    <actuator name="LHipRoll_Motor">
      <!-- Dummy Values -->
      <hardwareInterface>PositionJointInterface</hardwareInterface>
      <mechanicalReduction>201.3</mechanicalReduction>
    </actuator>
  </transmission>
  <transmission name="LHipPitch_Transmission">
    <type>transmission_interface/SimpleTransmission</type>
    <joint name="LHipPitch">
      <hardwareInterface>PositionJointInterface</hardwareInterface>
    </joint>
    <actuator name="LHipPitch_Motor">
      <!-- Dummy Values -->
      <hardwareInterface>PositionJointInterface</hardwareInterface>
      <mechanicalReduction>130.85</mechanicalReduction>
    </actuator>
  </transmission>
  <transmission name="LKneePitch_Transmission">
    <type>transmission_interface/SimpleTransmission</type>
    <joint name="LKneePitch">
      <hardwareInterface>PositionJointInterface</hardwareInterface>
    </joint>
    <actuator name="LKneePitch_Motor">
      <!-- Dummy Values -->
      <hardwareInterface>PositionJointInterface</hardwareInterface>
      <mechanicalReduction>130.85</mechanicalReduction>
    </actuator>
  </transmission>
  <transmission name="LAnklePitch_Transmission">
    <type>transmission_interface/SimpleTransmission</type>
    <joint name="LAnklePitch">
      <hardwareInterface>PositionJointInterface</hardwareInterface>
    </joint>
    <actuator name="LAnklePitch_Motor">
      <!-- Dummy Values -->
      <hardwareInterface>PositionJointInterface</hardwareInterface>
      <mechanicalReduction>130.85</mechanicalReduction>
    </actuator>
  </transmission>
  <transmission name="LAnkleRoll_Transmission">
    <type>transmission_interface/SimpleTransmission</type>
    <joint name="LAnkleRoll">
      <hardwareInterface>PositionJointInterface</hardwareInterface>
    </joint>
    <actuator name="LAnkleRoll_Motor">
      <!-- Dummy Values -->
      <hardwareInterface>PositionJointInterface</hardwareInterface>
      <mechanicalReduction>201.3</mechanicalReduction>
    </actuator>
  </transmission>
  <transmission name="RHipYawPitch_Transmission">
    <type>transmission_interface/SimpleTransmission</type>
    <joint name="RHipYawPitch">
      <hardwareInterface>PositionJointInterface</hardwareInterface>
    </joint>
    <actuator name="RHipYawPitch_Motor">
      <!-- Dummy Values -->
      <hardwareInterface>PositionJointInterface</hardwareInterface>
      <mechanicalReduction>201.3</mechanicalReduction>
    </actuator>
  </transmission>
  <transmission name="RHipRoll_Transmission">
    <type>transmission_interface/SimpleTransmission</type>
    <joint name="RHipRoll">
      <hardwareInterface>PositionJointInterface</hardwareInterface>
    </joint>
    <actuator name="RHipRoll_Motor">
      <!-- Dummy Values -->
      <hardwareInterface>PositionJointInterface</hardwareInterface>
      <mechanicalReduction>201.3</mechanicalReduction>
    </actuator>
  </transmission>
  <transmission name="RHipPitch_Transmission">
    <type>transmission_interface/SimpleTransmission</type>
    <joint name="RHipPitch">
      <hardwareInterface>PositionJointInterface</hardwareInterface>
    </joint>
    <actuator name="RHipPitch_Motor">
      <!-- Dummy Values -->
      <hardwareInterface>PositionJointInterface</hardwareInterface>
      <mechanicalReduction>130.85</mechanicalReduction>
    </actuator>
  </transmission>
  <transmission name="RKneePitch_Transmission">
    <type>transmission_interface/SimpleTransmission</type>
    <joint name="RKneePitch">
      <hardwareInterface>PositionJointInterface</hardwareInterface>
    </joint>
    <actuator name="RKneePitch_Motor">
      <!-- Dummy Values -->
      <hardwareInterface>PositionJointInterface</hardwareInterface>
      <mechanicalReduction>130.85</mechanicalReduction>
    </actuator>
  </transmission>
  <transmission name="RAnklePitch_Transmission">
    <type>transmission_interface/SimpleTransmission</type>
    <joint name="RAnklePitch">
      <hardwareInterface>PositionJointInterface</hardwareInterface>
    </joint>
    <actuator name="RAnklePitch_Motor">
      <!-- Dummy Values -->
      <hardwareInterface>PositionJointInterface</hardwareInterface>
      <mechanicalReduction>130.85</mechanicalReduction>
    </actuator>
  </transmission>
  <transmission name="RAnkleRoll_Transmission">
    <type>transmission_interface/SimpleTransmission</type>
    <joint name="RAnkleRoll">
      <hardwareInterface>PositionJointInterface</hardwareInterface>
    </joint>
    <actuator name="RAnkleRoll_Motor">
      <!-- Dummy Values -->
      <hardwareInterface>PositionJointInterface</hardwareInterface>
      <mechanicalReduction>201.3</mechanicalReduction>
    </actuator>
  </transmission>
</robot>
